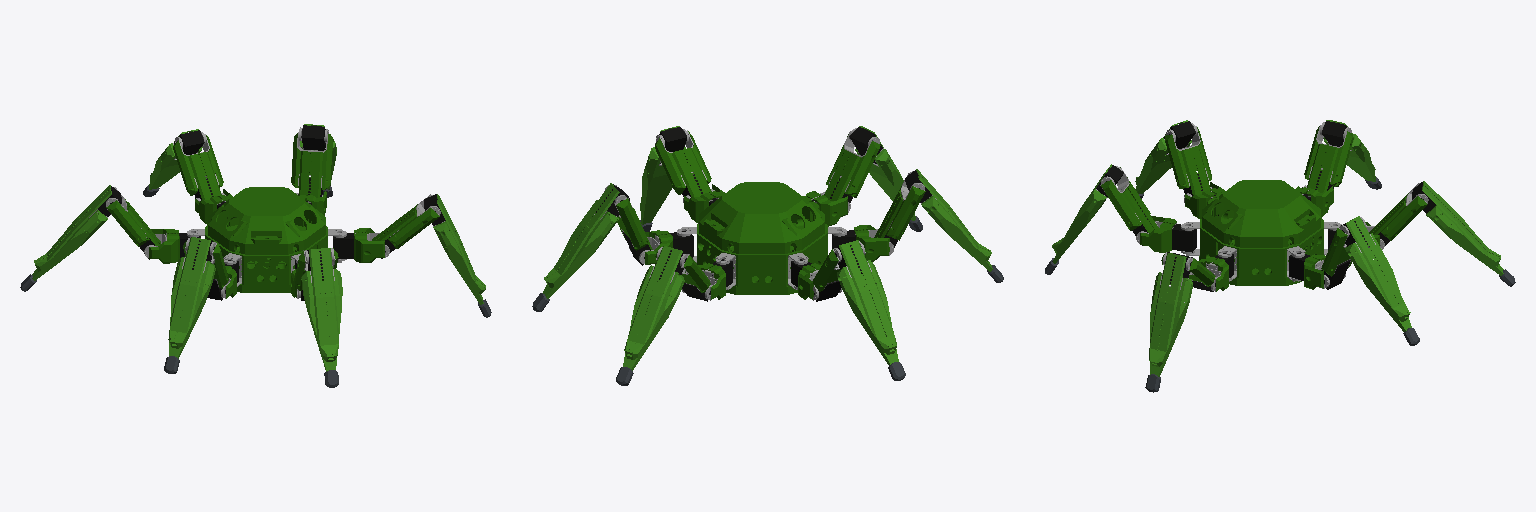
--- Facts derived from the render (not from the file) ---
The picture shows the robot from 3 angles, left to right: view 1: azimuth 30°, elevation 25°; view 2: azimuth 150°, elevation 25°; view 3: azimuth 270°, elevation 25°; orthographic projection.
Model [local-path]\OneDrive\Desktop\ros\hexapod with 19 links and 18 joints (18 revolute), rooted at body, posed all joints at 0.
Links seen in each view (by area): view 1: body, foot_6, foot_5, foot_4, foot, ties_3, ties_2, foot_3, ties, hip, ties_4, hip_4 (+3 smaller); view 2: body, foot_4, foot_3, foot_2, foot_5, foot, ties, ties_6, foot_6, ties_5, ties_2, hip_5 (+7 smaller); view 3: body, foot, foot_2, foot_3, ties_4, ties_5, ties_6, foot_5, foot_6, hip_6, foot_4, ties_3 (+6 smaller).
Boxes of the visible links, bbox=[...] form: body: bbox=[191, 187, 341, 292]; foot_6: bbox=[301, 248, 342, 387]; foot_5: bbox=[164, 237, 215, 373]; foot_4: bbox=[20, 185, 121, 291]; foot: bbox=[424, 194, 491, 317]; ties_3: bbox=[173, 134, 223, 200]; ties_2: bbox=[291, 132, 333, 197]; foot_3: bbox=[143, 129, 205, 196]; ties: bbox=[372, 194, 439, 258]; hip: bbox=[333, 228, 384, 262]; ties_4: bbox=[106, 187, 160, 259]; hip_4: bbox=[149, 229, 200, 263]; body: bbox=[682, 182, 841, 294]; foot_4: bbox=[834, 240, 905, 380]; foot_3: bbox=[616, 246, 687, 385]; foot_2: bbox=[532, 183, 629, 311]; foot_5: bbox=[905, 169, 1003, 282]; foot: bbox=[640, 126, 688, 231]; ties: bbox=[655, 130, 713, 202]; ties_6: bbox=[821, 131, 880, 212]; foot_6: bbox=[849, 126, 922, 231]; ties_5: bbox=[874, 173, 925, 254]; ties_2: bbox=[615, 185, 652, 265]; hip_5: bbox=[832, 225, 889, 261]; body: bbox=[1186, 180, 1337, 285]; foot: bbox=[1145, 252, 1192, 392]; foot_2: bbox=[1339, 216, 1419, 345]; foot_3: bbox=[1412, 181, 1515, 286]; ties_4: bbox=[1304, 125, 1353, 192]; ties_5: bbox=[1165, 126, 1211, 202]; ties_6: bbox=[1100, 167, 1158, 245]; foot_5: bbox=[1135, 120, 1196, 198]; foot_6: bbox=[1045, 164, 1123, 274]; hip_6: bbox=[1140, 216, 1196, 254]; foot_4: bbox=[1320, 120, 1381, 189]; ties_3: bbox=[1369, 183, 1427, 249].
Bounding box of the posed robot: 0.8976 × 1.01 × 0.3254 m (x, y, z).
Meshes: 13 distinct files referenced, 129 mesh visuals loaded (13 binary STL).

URDF robot description ([local-path]\OneDrive\Desktop\ros\hexapod):
<?xml version="1.0" ?>
<!-- Generated using onshape-to-robot -->
<!-- Onshape https://cad.onshape.com/documents/026f9a33ba6a25a983a9d639/w/b83e0182bd0a887a03df3198/e/e49783848224d44e064e4a49 -->
<robot name="[local-path]\OneDrive\Desktop\ros\hexapod">
  <!-- Link body -->
  <link name="body">
    <inertial>
      <origin xyz="-0.196109 -0.050879 -0.0432059" rpy="0 0 0"/>
      <mass value="2.27947"/>
      <inertia ixx="0.017042" ixy="3.91907e-05" ixz="-0.000103785" iyy="0.0170877" iyz="-0.00018515" izz="0.0241407"/>
    </inertial>
    <!-- Part mobile_bracket -->
    <visual>
      <origin xyz="-0.0906126 -0.113734 -0.0437427" rpy="2.0944 1.5708 0"/>
      <geometry>
        <mesh filename="package://meshes\mobile_bracket.stl"/>
      </geometry>
      <material name="mobile_bracket_material">
        <color rgba="0.647059 0.647059 0.647059 1"/>
      </material>
    </visual>
    <collision>
      <origin xyz="-0.0906126 -0.113734 -0.0437427" rpy="2.0944 1.5708 0"/>
      <geometry>
        <mesh filename="package://meshes\mobile_bracket.stl"/>
      </geometry>
    </collision>
    <!-- Part mobile_bracket_2 -->
    <visual>
      <origin xyz="-0.0906126 0.00905613 -0.0437427" rpy="1.0472 1.5708 0"/>
      <geometry>
        <mesh filename="package://meshes\mobile_bracket.stl"/>
      </geometry>
      <material name="mobile_bracket_2_material">
        <color rgba="0.647059 0.647059 0.647059 1"/>
      </material>
    </visual>
    <collision>
      <origin xyz="-0.0906126 0.00905613 -0.0437427" rpy="1.0472 1.5708 0"/>
      <geometry>
        <mesh filename="package://meshes\mobile_bracket.stl"/>
      </geometry>
    </collision>
    <!-- Part bottom_cover -->
    <visual>
      <origin xyz="-0.196952 -0.0523392 -0.00874275" rpy="-4.30211e-16 4.94382e-16 -2.0944"/>
      <geometry>
        <mesh filename="package://meshes\bottom_cover.stl"/>
      </geometry>
      <material name="bottom_cover_material">
        <color rgba="0.196078 0.439216 0.0784314 1"/>
      </material>
    </visual>
    <collision>
      <origin xyz="-0.196952 -0.0523392 -0.00874275" rpy="-4.30211e-16 4.94382e-16 -2.0944"/>
      <geometry>
        <mesh filename="package://meshes\bottom_cover.stl"/>
      </geometry>
    </collision>
    <!-- Part mobile_bracket_3 -->
    <visual>
      <origin xyz="-0.196952 0.0704514 -0.0437427" rpy="1.10589e-16 -1.5708 0"/>
      <geometry>
        <mesh filename="package://meshes\mobile_bracket.stl"/>
      </geometry>
      <material name="mobile_bracket_3_material">
        <color rgba="0.647059 0.647059 0.647059 1"/>
      </material>
    </visual>
    <collision>
      <origin xyz="-0.196952 0.0704514 -0.0437427" rpy="1.10589e-16 -1.5708 0"/>
      <geometry>
        <mesh filename="package://meshes\mobile_bracket.stl"/>
      </geometry>
    </collision>
    <!-- Part cover -->
    <visual>
      <origin xyz="-0.196952 -0.0523392 -0.0787427" rpy="3.14159 2.42408e-16 -2.0944"/>
      <geometry>
        <mesh filename="package://meshes\cover.stl"/>
      </geometry>
      <material name="cover_material">
        <color rgba="0.196078 0.439216 0.0784314 1"/>
      </material>
    </visual>
    <collision>
      <origin xyz="-0.196952 -0.0523392 -0.0787427" rpy="3.14159 2.42408e-16 -2.0944"/>
      <geometry>
        <mesh filename="package://meshes\cover.stl"/>
      </geometry>
    </collision>
    <!-- Part mobile_bracket_4 -->
    <visual>
      <origin xyz="-0.196952 -0.17513 -0.0437427" rpy="-3.14159 1.5708 0"/>
      <geometry>
        <mesh filename="package://meshes\mobile_bracket.stl"/>
      </geometry>
      <material name="mobile_bracket_4_material">
        <color rgba="0.647059 0.647059 0.647059 1"/>
      </material>
    </visual>
    <collision>
      <origin xyz="-0.196952 -0.17513 -0.0437427" rpy="-3.14159 1.5708 0"/>
      <geometry>
        <mesh filename="package://meshes\mobile_bracket.stl"/>
      </geometry>
    </collision>
    <!-- Part mobile_bracket_5 -->
    <visual>
      <origin xyz="-0.303292 0.00905613 -0.0437427" rpy="1.0472 -1.5708 0"/>
      <geometry>
        <mesh filename="package://meshes\mobile_bracket.stl"/>
      </geometry>
      <material name="mobile_bracket_5_material">
        <color rgba="0.647059 0.647059 0.647059 1"/>
      </material>
    </visual>
    <collision>
      <origin xyz="-0.303292 0.00905613 -0.0437427" rpy="1.0472 -1.5708 0"/>
      <geometry>
        <mesh filename="package://meshes\mobile_bracket.stl"/>
      </geometry>
    </collision>
    <!-- Part mobile_bracket_6 -->
    <visual>
      <origin xyz="-0.303292 -0.113734 -0.0437427" rpy="2.0944 -1.5708 0"/>
      <geometry>
        <mesh filename="package://meshes\mobile_bracket.stl"/>
      </geometry>
      <material name="mobile_bracket_6_material">
        <color rgba="0.647059 0.647059 0.647059 1"/>
      </material>
    </visual>
    <collision>
      <origin xyz="-0.303292 -0.113734 -0.0437427" rpy="2.0944 -1.5708 0"/>
      <geometry>
        <mesh filename="package://meshes\mobile_bracket.stl"/>
      </geometry>
    </collision>
    <!-- Part body -->
    <visual>
      <origin xyz="-0.196952 -0.0523392 -0.0437427" rpy="3.14159 -4.30211e-16 2.61799"/>
      <geometry>
        <mesh filename="package://meshes\body.stl"/>
      </geometry>
      <material name="body_material">
        <color rgba="0.196078 0.439216 0.0784314 1"/>
      </material>
    </visual>
    <collision>
      <origin xyz="-0.196952 -0.0523392 -0.0437427" rpy="3.14159 -4.30211e-16 2.61799"/>
      <geometry>
        <mesh filename="package://meshes\body.stl"/>
      </geometry>
    </collision>
  </link>
  <!-- Link hip -->
  <link name="hip">
    <inertial>
      <origin xyz="0.0269089 0.00049653 -0.030132" rpy="0 0 0"/>
      <mass value="0.367257"/>
      <inertia ixx="0.000167558" ixy="-9.38193e-07" ixz="-3.64504e-06" iyy="0.000313217" iyz="1.43413e-06" izz="0.000311521"/>
    </inertial>
    <!-- Part hip -->
    <visual>
      <origin xyz="0.057495 0.00075483 -0.0045" rpy="6.40344e-16 -9.93066e-16 -3.12846"/>
      <geometry>
        <mesh filename="package://meshes\hip.stl"/>
      </geometry>
      <material name="hip_material">
        <color rgba="0.196078 0.439216 0.0784314 1"/>
      </material>
    </visual>
    <collision>
      <origin xyz="0.057495 0.00075483 -0.0045" rpy="6.40344e-16 -9.93066e-16 -3.12846"/>
      <geometry>
        <mesh filename="package://meshes\hip.stl"/>
      </geometry>
    </collision>
    <!-- Part mobile_bracket_7 -->
    <visual>
      <origin xyz="0.057495 0.00075483 -0.0305" rpy="-2.17969e-15 -4.87364e-16 -1.55767"/>
      <geometry>
        <mesh filename="package://meshes\mobile_bracket.stl"/>
      </geometry>
      <material name="mobile_bracket_7_material">
        <color rgba="0.647059 0.647059 0.647059 1"/>
      </material>
    </visual>
    <collision>
      <origin xyz="0.057495 0.00075483 -0.0305" rpy="-2.17969e-15 -4.87364e-16 -1.55767"/>
      <geometry>
        <mesh filename="package://meshes\mobile_bracket.stl"/>
      </geometry>
    </collision>
    <!-- Part servo_wheel -->
    <visual>
      <origin xyz="7.80626e-17 2.77556e-17 -0.0025" rpy="-3.14159 -1.12543e-15 -3.12846"/>
      <geometry>
        <mesh filename="package://meshes\servo_wheel.stl"/>
      </geometry>
      <material name="servo_wheel_material">
        <color rgba="0.647059 0.647059 0.647059 1"/>
      </material>
    </visual>
    <collision>
      <origin xyz="7.80626e-17 2.77556e-17 -0.0025" rpy="-3.14159 -1.12543e-15 -3.12846"/>
      <geometry>
        <mesh filename="package://meshes\servo_wheel.stl"/>
      </geometry>
    </collision>
    <!-- Part servo -->
    <visual>
      <origin xyz="0.0174801 0.00163403 -0.0305" rpy="-3.14159 -1.06559e-15 -3.12846"/>
      <geometry>
        <mesh filename="package://meshes\servo.stl"/>
      </geometry>
      <material name="servo_material">
        <color rgba="0.109804 0.109804 0.105882 1"/>
      </material>
    </visual>
    <collision>
      <origin xyz="0.0174801 0.00163403 -0.0305" rpy="-3.14159 -1.06559e-15 -3.12846"/>
      <geometry>
        <mesh filename="package://meshes\servo.stl"/>
      </geometry>
    </collision>
    <!-- Part fixed_bracket -->
    <visual>
      <origin xyz="0.057495 0.00075483 -0.0305" rpy="-1.58392 1.5708 0"/>
      <geometry>
        <mesh filename="package://meshes\fixed_bracket.stl"/>
      </geometry>
      <material name="fixed_bracket_material">
        <color rgba="0.647059 0.647059 0.647059 1"/>
      </material>
    </visual>
    <collision>
      <origin xyz="0.057495 0.00075483 -0.0305" rpy="-1.58392 1.5708 0"/>
      <geometry>
        <mesh filename="package://meshes\fixed_bracket.stl"/>
      </geometry>
    </collision>
    <!-- Part servo_wheel_2 -->
    <visual>
      <origin xyz="9.19403e-17 0 -0.0585" rpy="-3.14159 -1.04151e-15 -3.12846"/>
      <geometry>
        <mesh filename="package://meshes\servo_wheel.stl"/>
      </geometry>
      <material name="servo_wheel_2_material">
        <color rgba="0.647059 0.647059 0.647059 1"/>
      </material>
    </visual>
    <collision>
      <origin xyz="9.19403e-17 0 -0.0585" rpy="-3.14159 -1.04151e-15 -3.12846"/>
      <geometry>
        <mesh filename="package://meshes\servo_wheel.stl"/>
      </geometry>
    </collision>
  </link>
  <!-- Link ties -->
  <link name="ties">
    <inertial>
      <origin xyz="0.0327445 0.0282242 -0.0311253" rpy="0 0 0"/>
      <mass value="0.468272"/>
      <inertia ixx="0.000509114" ixy="-0.000339983" ixz="7.51677e-06" iyy="0.000630229" iyz="6.04096e-06" izz="0.000767114"/>
    </inertial>
    <!-- Part mobile_bracket_8 -->
    <visual>
      <origin xyz="0.082462 0.0689657 -0.0305" rpy="0.87429 1.5708 0"/>
      <geometry>
        <mesh filename="package://meshes\mobile_bracket.stl"/>
      </geometry>
      <material name="mobile_bracket_8_material">
        <color rgba="0.647059 0.647059 0.647059 1"/>
      </material>
    </visual>
    <collision>
      <origin xyz="0.082462 0.0689657 -0.0305" rpy="0.87429 1.5708 0"/>
      <geometry>
        <mesh filename="package://meshes\mobile_bracket.stl"/>
      </geometry>
    </collision>
    <!-- Part tie -->
    <visual>
      <origin xyz="0.0210949 0.0176424 -0.0305" rpy="-0.696506 1.5708 0"/>
      <geometry>
        <mesh filename="package://meshes\tie.stl"/>
      </geometry>
      <material name="tie_material">
        <color rgba="0.196078 0.439216 0.0784314 1"/>
      </material>
    </visual>
    <collision>
      <origin xyz="0.0210949 0.0176424 -0.0305" rpy="-0.696506 1.5708 0"/>
      <geometry>
        <mesh filename="package://meshes\tie.stl"/>
      </geometry>
    </collision>
    <!-- Part servo_wheel_3 -->
    <visual>
      <origin xyz="-4.16334e-17 -6.93889e-18 -0.0025" rpy="-3.14159 -7.95331e-15 -2.44509"/>
      <geometry>
        <mesh filename="package://meshes\servo_wheel.stl"/>
      </geometry>
      <material name="servo_wheel_3_material">
        <color rgba="0.647059 0.647059 0.647059 1"/>
      </material>
    </visual>
    <collision>
      <origin xyz="-4.16334e-17 -6.93889e-18 -0.0025" rpy="-3.14159 -7.95331e-15 -2.44509"/>
      <geometry>
        <mesh filename="package://meshes\servo_wheel.stl"/>
      </geometry>
    </collision>
    <!-- Part servo_2 -->
    <visual>
      <origin xyz="0.012523 0.0123043 -0.0305" rpy="-3.14159 -9.08255e-15 -2.44509"/>
      <geometry>
        <mesh filename="package://meshes\servo.stl"/>
      </geometry>
      <material name="servo_2_material">
        <color rgba="0.109804 0.109804 0.105882 1"/>
      </material>
    </visual>
    <collision>
      <origin xyz="0.012523 0.0123043 -0.0305" rpy="-3.14159 -9.08255e-15 -2.44509"/>
      <geometry>
        <mesh filename="package://meshes\servo.stl"/>
      </geometry>
    </collision>
    <!-- Part fixed_bracket_2 -->
    <visual>
      <origin xyz="0.0441076 0.0368886 -0.0305" rpy="-2.2673 1.5708 0"/>
      <geometry>
        <mesh filename="package://meshes\fixed_bracket.stl"/>
      </geometry>
      <material name="fixed_bracket_2_material">
        <color rgba="0.647059 0.647059 0.647059 1"/>
      </material>
    </visual>
    <collision>
      <origin xyz="0.0441076 0.0368886 -0.0305" rpy="-2.2673 1.5708 0"/>
      <geometry>
        <mesh filename="package://meshes\fixed_bracket.stl"/>
      </geometry>
    </collision>
    <!-- Part servo_wheel_4 -->
    <visual>
      <origin xyz="-6.93889e-17 -2.77556e-17 -0.0585" rpy="-3.14159 -8.57101e-15 -2.44509"/>
      <geometry>
        <mesh filename="package://meshes\servo_wheel.stl"/>
      </geometry>
      <material name="servo_wheel_4_material">
        <color rgba="0.647059 0.647059 0.647059 1"/>
      </material>
    </visual>
    <collision>
      <origin xyz="-6.93889e-17 -2.77556e-17 -0.0585" rpy="-3.14159 -8.57101e-15 -2.44509"/>
      <geometry>
        <mesh filename="package://meshes\servo_wheel.stl"/>
      </geometry>
    </collision>
  </link>
  <!-- Link foot -->
  <link name="foot">
    <inertial>
      <origin xyz="-0.0743464 -0.000710193 -0.030632" rpy="0 0 0"/>
      <mass value="0.61675"/>
      <inertia ixx="0.000244104" ixy="-1.43889e-05" ixz="2.03993e-06" iyy="0.00314722" iyz="1.38557e-07" izz="0.00298873"/>
    </inertial>
    <!-- Part rubber_foot -->
    <visual>
      <origin xyz="-0.04475 1.38778e-16 -0.0305" rpy="-2.81587e-16 1.5708 0"/>
      <geometry>
        <mesh filename="package://meshes\rubber_foot.stl"/>
      </geometry>
      <material name="rubber_foot_material">
        <color rgba="0.262745 0.282353 0.301961 1"/>
      </material>
    </visual>
    <collision>
      <origin xyz="-0.04475 1.38778e-16 -0.0305" rpy="-2.81587e-16 1.5708 0"/>
      <geometry>
        <mesh filename="package://meshes\rubber_foot.stl"/>
      </geometry>
    </collision>
    <!-- Part lower_foot -->
    <visual>
      <origin xyz="-0.04425 0 -0.0305" rpy="1.05679e-16 1.5708 0"/>
      <geometry>
        <mesh filename="package://meshes\lower_foot.stl"/>
      </geometry>
      <material name="lower_foot_material">
        <color rgba="0.282353 0.54902 0.160784 1"/>
      </material>
    </visual>
    <collision>
      <origin xyz="-0.04425 0 -0.0305" rpy="1.05679e-16 1.5708 0"/>
      <geometry>
        <mesh filename="package://meshes\lower_foot.stl"/>
      </geometry>
    </collision>
    <!-- Part weight_beam -->
    <visual>
      <origin xyz="-0.04425 2.77556e-17 -0.0305" rpy="7.72551e-17 1.5708 0"/>
      <geometry>
        <mesh filename="package://meshes\weight_beam.stl"/>
      </geometry>
      <material name="weight_beam_material">
        <color rgba="0.917647 0.917647 0.917647 1"/>
      </material>
    </visual>
    <collision>
      <origin xyz="-0.04425 2.77556e-17 -0.0305" rpy="7.72551e-17 1.5708 0"/>
      <geometry>
        <mesh filename="package://meshes\weight_beam.stl"/>
      </geometry>
    </collision>
    <!-- Part upper_foot -->
    <visual>
      <origin xyz="-0.04425 0 -0.0305" rpy="-5.21251e-17 1.5708 0"/>
      <geometry>
        <mesh filename="package://meshes\upper_foot.stl"/>
      </geometry>
      <material name="upper_foot_material">
        <color rgba="0.282353 0.54902 0.160784 1"/>
      </material>
    </visual>
    <collision>
      <origin xyz="-0.04425 0 -0.0305" rpy="-5.21251e-17 1.5708 0"/>
      <geometry>
        <mesh filename="package://meshes\upper_foot.stl"/>
      </geometry>
    </collision>
    <!-- Part servo_wheel_5 -->
    <visual>
      <origin xyz="-1.38778e-17 0 -0.0025" rpy="3.14159 -2.11584e-20 -9.07834e-18"/>
      <geometry>
        <mesh filename="package://meshes\servo_wheel.stl"/>
      </geometry>
      <material name="servo_wheel_5_material">
        <color rgba="0.647059 0.647059 0.647059 1"/>
      </material>
    </visual>
    <collision>
      <origin xyz="-1.38778e-17 0 -0.0025" rpy="3.14159 -2.11584e-20 -9.07834e-18"/>
      <geometry>
        <mesh filename="package://meshes\servo_wheel.stl"/>
      </geometry>
    </collision>
    <!-- Part servo_3 -->
    <visual>
      <origin xyz="-0.0175 -0.00140442 -0.0305" rpy="3.14159 -2.72451e-15 1.01075e-16"/>
      <geometry>
        <mesh filename="package://meshes\servo.stl"/>
      </geometry>
      <material name="servo_3_material">
        <color rgba="0.109804 0.109804 0.105882 1"/>
      </material>
    </visual>
    <collision>
      <origin xyz="-0.0175 -0.00140442 -0.0305" rpy="3.14159 -2.72451e-15 1.01075e-16"/>
      <geometry>
        <mesh filename="package://meshes\servo.stl"/>
      </geometry>
    </collision>
    <!-- Part fixed_bracket_3 -->
    <visual>
      <origin xyz="-0.0575 0 -0.0305" rpy="1.5708 1.5708 0"/>
      <geometry>
        <mesh filename="package://meshes\fixed_bracket.stl"/>
      </geometry>
      <material name="fixed_bracket_3_material">
        <color rgba="0.647059 0.647059 0.647059 1"/>
      </material>
    </visual>
    <collision>
      <origin xyz="-0.0575 0 -0.0305" rpy="1.5708 1.5708 0"/>
      <geometry>
        <mesh filename="package://meshes\fixed_bracket.stl"/>
      </geometry>
    </collision>
    <!-- Part servo_wheel_6 -->
    <visual>
      <origin xyz="1.38778e-17 2.77556e-17 -0.0585" rpy="3.14159 -2.82447e-15 -1.10484e-16"/>
      <geometry>
        <mesh filename="package://meshes\servo_wheel.stl"/>
      </geometry>
      <material name="servo_wheel_6_material">
        <color rgba="0.647059 0.647059 0.647059 1"/>
      </material>
    </visual>
    <collision>
      <origin xyz="1.38778e-17 2.77556e-17 -0.0585" rpy="3.14159 -2.82447e-15 -1.10484e-16"/>
      <geometry>
        <mesh filename="package://meshes\servo_wheel.stl"/>
      </geometry>
    </collision>
  </link>
  <!-- Joint from ties to foot -->
  <joint name="foot_1" type="revolute">
    <origin xyz="0.10931 0.0914197 -0.000116718" rpy="3.487e-15 -1.92241e-15 2.00129"/>
    <parent link="ties"/>
    <child link="foot"/>
    <axis xyz="0 0 1"/>
    <limit effort="10" velocity="10" lower="-0.25759" upper="3.9312"/>
  </joint>
  <!-- Joint from hip to ties -->
  <joint name="ties_1" type="revolute">
    <origin xyz="0.0929005 -0.0298997 -0.0305" rpy="1.5708 2.17969e-15 0.0131279"/>
    <parent link="hip"/>
    <child link="ties"/>
    <axis xyz="0 0 1"/>
    <limit effort="10" velocity="10" lower="-2.44184" upper="1.04882"/>
  </joint>
  <!-- Joint from body to hip -->
  <joint name="hip_1" type="revolute">
    <origin xyz="-0.0603017 -0.131234 -0.0133595" rpy="4.41736e-16 -2.00843e-17 -0.523599"/>
    <parent link="body"/>
    <child link="hip"/>
    <axis xyz="0 0 1"/>
    <limit effort="10" velocity="10" lower="-1.58392" upper="1.55767"/>
  </joint>
  <!-- Link hip_2 -->
  <link name="hip_2">
    <inertial>
      <origin xyz="-0.0269131 -0.000143241 -0.030132" rpy="0 0 0"/>
      <mass value="0.367257"/>
      <inertia ixx="0.000167559" ixy="9.74102e-07" ixz="3.62589e-06" iyy="0.000313217" iyz="-1.48186e-06" izz="0.000311521"/>
    </inertial>
    <!-- Part hip_2 -->
    <visual>
      <origin xyz="-0.0575 4.16334e-17 -0.0045" rpy="2.63678e-16 6.80012e-16 5.11551e-16"/>
      <geometry>
        <mesh filename="package://meshes\hip.stl"/>
      </geometry>
      <material name="hip_2_material">
        <color rgba="0.196078 0.439216 0.0784314 1"/>
      </material>
    </visual>
    <collision>
      <origin xyz="-0.0575 4.16334e-17 -0.0045" rpy="2.63678e-16 6.80012e-16 5.11551e-16"/>
      <geometry>
        <mesh filename="package://meshes\hip.stl"/>
      </geometry>
    </collision>
    <!-- Part mobile_bracket_9 -->
    <visual>
      <origin xyz="-0.0575 0 -0.0305" rpy="9.85323e-16 -4.996e-16 1.5708"/>
      <geometry>
        <mesh filename="package://meshes\mobile_bracket.stl"/>
      </geometry>
      <material name="mobile_bracket_9_material">
        <color rgba="0.647059 0.647059 0.647059 1"/>
      </material>
    </visual>
    <collision>
      <origin xyz="-0.0575 0 -0.0305" rpy="9.85323e-16 -4.996e-16 1.5708"/>
      <geometry>
        <mesh filename="package://meshes\mobile_bracket.stl"/>
      </geometry>
    </collision>
    <!-- Part servo_wheel_7 -->
    <visual>
      <origin xyz="0 0 -0.0025" rpy="-3.14159 -6.38069e-32 9.97878e-17"/>
      <geometry>
        <mesh filename="package://meshes\servo_wheel.stl"/>
      </geometry>
      <material name="servo_wheel_7_material">
        <color rgba="0.647059 0.647059 0.647059 1"/>
      </material>
    </visual>
    <collision>
      <origin xyz="0 0 -0.0025" rpy="-3.14159 -6.38069e-32 9.97878e-17"/>
      <geometry>
        <mesh filename="package://meshes\servo_wheel.stl"/>
      </geometry>
    </collision>
    <!-- Part servo_4 -->
    <visual>
      <origin xyz="-0.0175 -0.00140442 -0.0305" rpy="-3.14159 1.8735e-16 3.21238e-16"/>
      <geometry>
        <mesh filename="package://meshes\servo.stl"/>
      </geometry>
      <material name="servo_4_material">
        <color rgba="0.109804 0.109804 0.105882 1"/>
      </material>
    </visual>
    <collision>
      <origin xyz="-0.0175 -0.00140442 -0.0305" rpy="-3.14159 1.8735e-16 3.21238e-16"/>
      <geometry>
        <mesh filename="package://meshes\servo.stl"/>
      </geometry>
    </collision>
    <!-- Part fixed_bracket_4 -->
    <visual>
      <origin xyz="-0.0575 0 -0.0305" rpy="1.5708 1.5708 0"/>
      <geometry>
        <mesh filename="package://meshes\fixed_bracket.stl"/>
      </geometry>
      <material name="fixed_bracket_4_material">
        <color rgba="0.647059 0.647059 0.647059 1"/>
      </material>
    </visual>
    <collision>
      <origin xyz="-0.0575 0 -0.0305" rpy="1.5708 1.5708 0"/>
      <geometry>
        <mesh filename="package://meshes\fixed_bracket.stl"/>
      </geometry>
    </collision>
    <!-- Part servo_wheel_8 -->
    <visual>
      <origin xyz="-3.46945e-17 0 -0.0585" rpy="3.14159 -3.11556e-15 3.82586e-16"/>
      <geometry>
        <mesh filename="package://meshes\servo_wheel.stl"/>
      </geometry>
      <material name="servo_wheel_8_material">
        <color rgba="0.647059 0.647059 0.647059 1"/>
      </material>
    </visual>
    <collision>
      <origin xyz="-3.46945e-17 0 -0.0585" rpy="3.14159 -3.11556e-15 3.82586e-16"/>
      <geometry>
        <mesh filename="package://meshes\servo_wheel.stl"/>
      </geometry>
    </collision>
  </link>
  <!-- Link ties_2 -->
  <link name="ties_2">
    <inertial>
      <origin xyz="0.0157436 0.040261 -0.0311253" rpy="0 0 0"/>
      <mass value="0.468272"/>
      <inertia ixx="0.000816681" ixy="-0.000241333" ixz="3.81898e-06" iyy="0.000322662" iyz="8.85496e-06" izz="0.000767114"/>
    </inertial>
    <!-- Part mobile_bracket_10 -->
    <visual>
      <origin xyz="0.0406359 0.0995237 -0.0305" rpy="0.387644 1.5708 0"/>
      <geometry>
        <mesh filename="package://meshes\mobile_bracket.stl"/>
      </geometry>
      <material name="mobile_bracket_10_material">
        <color rgba="0.647059 0.647059 0.647059 1"/>
      </material>
    </visual>
    <collision>
      <origin xyz="0.0406359 0.0995237 -0.0305" rpy="0.387644 1.5708 0"/>
      <geometry>
        <mesh filename="package://meshes\mobile_bracket.stl"/>
      </geometry>
    </collision>
    <!-- Part tie_2 -->
    <visual>
      <origin xyz="0.0103952 0.0254596 -0.0305" rpy="-1.18315 1.5708 0"/>
      <geometry>
        <mesh filename="package://meshes\tie.stl"/>
      </geometry>
      <material name="tie_2_material">
        <color rgba="0.196078 0.439216 0.0784314 1"/>
      </material>
    </visual>
    <collision>
      <origin xyz="0.0103952 0.0254596 -0.0305" rpy="-1.18315 1.5708 0"/>
      <geometry>
        <mesh filename="package://meshes\tie.stl"/>
      </geometry>
    </collision>
    <!-- Part servo_wheel_9 -->
    <visual>
      <origin xyz="1.38778e-17 1.38778e-17 -0.0025" rpy="3.14159 -6.39221e-16 -1.95844"/>
      <geometry>
        <mesh filename="package://meshes\servo_wheel.stl"/>
      </geometry>
      <material name="servo_wheel_9_material">
        <color rgba="0.647059 0.647059 0.647059 1"/>
      </material>
    </visual>
    <collision>
      <origin xyz="1.38778e-17 1.38778e-17 -0.0025" rpy="3.14159 -6.39221e-16 -1.95844"/>
      <geometry>
        <mesh filename="package://meshes\servo_wheel.stl"/>
      </geometry>
    </collision>
    <!-- Part servo_5 -->
    <visual>
      <origin xyz="0.00531493 0.0167324 -0.0305" rpy="3.14159 3.81092e-16 -1.95844"/>
      <geometry>
        <mesh filename="package://meshes\servo.stl"/>
      </geometry>
      <material name="servo_5_material">
        <color rgba="0.109804 0.109804 0.105882 1"/>
      </material>
    </visual>
    <collision>
      <origin xyz="0.00531493 0.0167324 -0.0305" rpy="3.14159 3.81092e-16 -1.95844"/>
      <geometry>
        <mesh filename="package://meshes\servo.stl"/>
      </geometry>
    </collision>
    <!-- Part fixed_bracket_5 -->
    <visual>
      <origin xyz="0.0217355 0.0532336 -0.0305" rpy="-2.75395 1.5708 0"/>
      <geometry>
        <mesh filename="package://meshes\fixed_bracket.stl"/>
      </geometry>
      <material name="fixed_bracket_5_material">
        <color rgba="0.647059 0.647059 0.647059 1"/>
      </material>
    </visual>
    <collision>
      <origin xyz="0.0217355 0.0532336 -0.0305" rpy="-2.75395 1.5708 0"/>
      <geometry>
        <mesh filename="package://meshes\fixed_bracket.stl"/>
      </geometry>
    </collision>
    <!-- Part servo_wheel_10 -->
    <visual>
      <origin xyz="-2.77556e-17 -5.55112e-17 -0.0585" rpy="3.14159 -2.29178e-15 -1.95844"/>
      <geometry>
        <mesh filename="package://meshes\servo_wheel.stl"/>
      </geometry>
      <material name="servo_wheel_10_material">
        <color rgba="0.647059 0.647059 0.647059 1"/>
      </material>
    </visual>
    <collision>
      <origin xyz="-2.77556e-17 -5.55112e-17 -0.0585" rpy="3.14159 -2.29178e-15 -1.95844"/>
      <geometry>
        <mesh filename="package://meshes\servo_wheel.stl"/>
      </geometry>
    </collision>
  </link>
  <!-- Link foot_2 -->
  <link name="foot_2">
    <inertial>
      <origin xyz="-0.0743464 -0.000710193 -0.030632" rpy="0 0 0"/>
      <mass value="0.61675"/>
      <inertia ixx="0.000244104" ixy="-1.43889e-05" ixz="2.03993e-06" iyy="0.00314722" iyz="1.38557e-07" izz="0.00298873"/>
    </inertial>
    <!-- Part rubber_foot_2 -->
    <visual>
      <origin xyz="-0.04475 2.77556e-17 -0.0305" rpy="-8.43949e-17 1.5708 0"/>
      <geometry>
        <mesh filename="package://meshes\rubber_foot.stl"/>
      </geometry>
      <material name="rubber_foot_2_material">
        <color rgba="0.262745 0.282353 0.301961 1"/>
      </material>
    </visual>
    <collision>
      <origin xyz="-0.04475 2.77556e-17 -0.0305" rpy="-8.43949e-17 1.5708 0"/>
      <geometry>
        <mesh filename="package://meshes\rubber_foot.stl"/>
      </geometry>
    </collision>
    <!-- Part lower_foot_2 -->
    <visual>
      <origin xyz="-0.04425 -5.55112e-17 -0.0305" rpy="1.32358e-17 1.5708 0"/>
      <geometry>
        <mesh filename="package://meshes\lower_foot.stl"/>
      </geometry>
      <material name="lower_foot_2_material">
        <color rgba="0.282353 0.54902 0.160784 1"/>
      </material>
    </visual>
    <collision>
      <origin xyz="-0.04425 -5.55112e-17 -0.0305" rpy="1.32358e-17 1.5708 0"/>
      <geometry>
        <mesh filename="package://meshes\lower_foot.stl"/>
      </geometry>
    </collision>
    <!-- Part weight_beam_2 -->
    <visual>
      <origin xyz="-0.04425 -2.77556e-17 -0.0305" rpy="-7.6616e-17 1.5708 0"/>
      <geometry>
        <mesh filename="package://meshes\weight_beam.stl"/>
      </geometry>
      <material name="weight_beam_2_material">
        <color rgba="0.917647 0.917647 0.917647 1"/>
      </material>
    </visual>
    <collision>
      <origin xyz="-0.04425 -2.77556e-17 -0.0305" rpy="-7.6616e-17 1.5708 0"/>
      <geometry>
        <mesh filename="package://meshes\weight_beam.stl"/>
      </geometry>
    </collision>
    <!-- Part upper_foot_2 -->
    <visual>
      <origin xyz="-0.04425 -2.77556e-17 -0.0305" rpy="1.32358e-17 1.5708 0"/>
      <geometry>
        <mesh filename="package://meshes\upper_foot.stl"/>
      </geometry>
      <material name="upper_foot_2_material">
        <color rgba="0.282353 0.54902 0.160784 1"/>
      </material>
    </visual>
    <collision>
      <origin xyz="-0.04425 -2.77556e-17 -0.0305" rpy="1.32358e-17 1.5708 0"/>
      <geometry>
        <mesh filename="package://meshes\upper_foot.stl"/>
      </geometry>
    </collision>
    <!-- Part servo_wheel_11 -->
    <visual>
      <origin xyz="-1.73472e-17 0 -0.0025" rpy="-3.14159 -2.14412e-18 -4.60747e-17"/>
      <geometry>
        <mesh filename="package://meshes\servo_wheel.stl"/>
      </geometry>
      <material name="servo_wheel_11_material">
        <color rgba="0.647059 0.647059 0.647059 1"/>
      </material>
    </visual>
    <collision>
      <origin xyz="-1.73472e-17 0 -0.0025" rpy="-3.14159 -2.14412e-18 -4.60747e-17"/>
      <geometry>
        <mesh filename="package://meshes\servo_wheel.stl"/>
      </geometry>
    </collision>
    <!-- Part servo_6 -->
    <visual>
      <origin xyz="-0.0175 -0.00140442 -0.0305" rpy="-3.14159 2.0323e-16 1.32349e-16"/>
      <geometry>
        <mesh filename="package://meshes\servo.stl"/>
      </geometry>
      <material name="servo_6_material">
        <color rgba="0.109804 0.109804 0.105882 1"/>
      </material>
    </visual>
    <collision>
      <origin xyz="-0.0175 -0.00140442 -0.0305" rpy="-3.14159 2.0323e-16 1.32349e-16"/>
      <geometry>
        <mesh filename="package://meshes\servo.stl"/>
      </geometry>
    </collision>
    <!-- Part fixed_bracket_6 -->
    <visual>
      <origin xyz="-0.0575 0 -0.0305" rpy="1.5708 1.5708 0"/>
      <geometry>
        <mesh filename="package://meshes\fixed_bracket.stl"/>
      </geometry>
      <material name="fixed_bracket_6_material">
        <color rgba="0.647059 0.647059 0.647059 1"/>
      </material>
    </visual>
    <collision>
      <origin xyz="-0.0575 0 -0.0305" rpy="1.5708 1.5708 0"/>
      <geometry>
        <mesh filename="package://meshes\fixed_bracket.stl"/>
      </geometry>
    </collision>
    <!-- Part servo_wheel_12 -->
    <visual>
      <origin xyz="-7.28584e-17 0 -0.0585" rpy="-3.14159 8.58787e-16 -8.81942e-17"/>
      <geometry>
        <mesh filename="package://meshes\servo_wheel.stl"/>
      </geometry>
      <material name="servo_wheel_12_material">
        <color rgba="0.647059 0.647059 0.647059 1"/>
      </material>
    </visual>
    <collision>
      <origin xyz="-7.28584e-17 0 -0.0585" rpy="-3.14159 8.58787e-16 -8.81942e-17"/>
      <geometry>
        <mesh filename="package://meshes\servo_wheel.stl"/>
      </geometry>
    </collision>
  </link>
  <!-- Joint from ties_2 to foot_2 -->
  <joint name="foot_2" type="revolute">
    <origin xyz="0.0538662 0.131927 -0.000116718" rpy="3.49334e-15 -4.3045e-15 2.24033"/>
    <parent link="ties_2"/>
    <child link="foot_2"/>
    <axis xyz="0 0 1"/>
    <limit effort="10" velocity="10" lower="-0.0099805" upper="4.17881"/>
  </joint>
  <!-- Joint from hip_2 to ties_2 -->
  <joint name="ties_2" type="revolute">
    <origin xyz="-0.0925 0.0311167 -0.0305" rpy="1.5708 -9.85323e-16 -3.14159"/>
    <parent link="hip_2"/>
    <child link="ties_2"/>
    <axis xyz="0 0 1"/>
    <limit effort="10" velocity="10" lower="-2.92848" upper="0.562177"/>
  </joint>
  <!-- Joint from body to hip_2 -->
  <joint name="hip_2" type="revolute">
    <origin xyz="-0.0603017 0.0265561 -0.0133595" rpy="-2.65193e-15 4.96332e-16 -2.2469"/>
    <parent link="body"/>
    <child link="hip_2"/>
    <axis xyz="0 0 1"/>
    <limit effort="10" velocity="10" lower="-1.94189" upper="1.19971"/>
  </joint>
  <!-- Link hip_3 -->
  <link name="hip_3">
    <inertial>
      <origin xyz="-0.0269131 -0.000143241 -0.030132" rpy="0 0 0"/>
      <mass value="0.367257"/>
      <inertia ixx="0.000167559" ixy="9.74102e-07" ixz="3.62589e-06" iyy="0.000313217" iyz="-1.48186e-06" izz="0.000311521"/>
    </inertial>
    <!-- Part hip_3 -->
    <visual>
      <origin xyz="-0.0575 2.22045e-16 -0.0045" rpy="4.30211e-16 3.95517e-16 -3.61773e-16"/>
      <geometry>
        <mesh filename="package://meshes\hip.stl"/>
      </geometry>
      <material name="hip_3_material">
        <color rgba="0.196078 0.439216 0.0784314 1"/>
      </material>
    </visual>
    <collision>
      <origin xyz="-0.0575 2.22045e-16 -0.0045" rpy="4.30211e-16 3.95517e-16 -3.61773e-16"/>
      <geometry>
        <mesh filename="package://meshes\hip.stl"/>
      </geometry>
    </collision>
    <!-- Part mobile_bracket_11 -->
    <visual>
      <origin xyz="-0.0575 5.55112e-17 -0.0305" rpy="8.32667e-16 7.91034e-16 1.5708"/>
      <geometry>
        <mesh filename="package://meshes\mobile_bracket.stl"/>
      </geometry>
      <material name="mobile_bracket_11_material">
        <color rgba="0.647059 0.647059 0.647059 1"/>
      </material>
    </visual>
    <collision>
      <origin xyz="-0.0575 5.55112e-17 -0.0305" rpy="8.32667e-16 7.91034e-16 1.5708"/>
      <geometry>
        <mesh filename="package://meshes\mobile_bracket.stl"/>
      </geometry>
    </collision>
    <!-- Part servo_wheel_13 -->
    <visual>
      <origin xyz="0 2.77556e-17 -0.0025" rpy="3.14159 -1.49214e-32 4.47223e-18"/>
      <geometry>
        <mesh filename="package://meshes\servo_wheel.stl"/>
      </geometry>
      <material name="servo_wheel_13_material">
        <color rgba="0.647059 0.647059 0.647059 1"/>
      </material>
    </visual>
    <collision>
      <origin xyz="0 2.77556e-17 -0.0025" rpy="3.14159 -1.49214e-32 4.47223e-18"/>
      <geometry>
        <mesh filename="package://meshes\servo_wheel.stl"/>
      </geometry>
    </collision>
    <!-- Part servo_7 -->
    <visual>
      <origin xyz="-0.0175 -0.00140442 -0.0305" rpy="-3.14159 6.10623e-16 -1.19127e-17"/>
      <geometry>
        <mesh filename="package://meshes\servo.stl"/>
      </geometry>
      <material name="servo_7_material">
        <color rgba="0.109804 0.109804 0.105882 1"/>
      </material>
    </visual>
    <collision>
      <origin xyz="-0.0175 -0.00140442 -0.0305" rpy="-3.14159 6.10623e-16 -1.19127e-17"/>
      <geometry>
        <mesh filename="package://meshes\servo.stl"/>
      </geometry>
    </collision>
    <!-- Part fixed_bracket_7 -->
    <visual>
      <origin xyz="-0.0575 5.55112e-17 -0.0305" rpy="1.5708 1.5708 0"/>
      <geometry>
        <mesh filename="package://meshes\fixed_bracket.stl"/>
      </geometry>
      <material name="fixed_bracket_7_material">
        <color rgba="0.647059 0.647059 0.647059 1"/>
      </material>
    </visual>
    <collision>
      <origin xyz="-0.0575 5.55112e-17 -0.0305" rpy="1.5708 1.5708 0"/>
      <geometry>
        <mesh filename="package://meshes\fixed_bracket.stl"/>
      </geometry>
    </collision>
    <!-- Part servo_wheel_14 -->
    <visual>
      <origin xyz="0 0 -0.0585" rpy="-3.14159 7.77156e-16 -1.98676e-16"/>
      <geometry>
        <mesh filename="package://meshes\servo_wheel.stl"/>
      </geometry>
      <material name="servo_wheel_14_material">
        <color rgba="0.647059 0.647059 0.647059 1"/>
      </material>
    </visual>
    <collision>
      <origin xyz="0 0 -0.0585" rpy="-3.14159 7.77156e-16 -1.98676e-16"/>
      <geometry>
        <mesh filename="package://meshes\servo_wheel.stl"/>
      </geometry>
    </collision>
  </link>
  <!-- Link ties_3 -->
  <link name="ties_3">
    <inertial>
      <origin xyz="0.0280086 0.0329292 -0.0311253" rpy="0 0 0"/>
      <mass value="0.468272"/>
      <inertia ixx="0.000615427" ixy="-0.000342289" ixz="6.49705e-06" iyy="0.000523916" iyz="7.12624e-06" izz="0.000767114"/>
    </inertial>
    <!-- Part mobile_bracket_12 -->
    <visual>
      <origin xyz="0.0708605 0.0808396 -0.0305" rpy="0.719711 1.5708 0"/>
      <geometry>
        <mesh filename="package://meshes\mobile_bracket.stl"/>
      </geometry>
      <material name="mobile_bracket_12_material">
        <color rgba="0.647059 0.647059 0.647059 1"/>
      </material>
    </visual>
    <collision>
      <origin xyz="0.0708605 0.0808396 -0.0305" rpy="0.719711 1.5708 0"/>
      <geometry>
        <mesh filename="package://meshes\mobile_bracket.stl"/>
      </geometry>
    </collision>
    <!-- Part tie_3 -->
    <visual>
      <origin xyz="0.0181271 0.0206799 -0.0305" rpy="-0.851085 1.5708 0"/>
      <geometry>
        <mesh filename="package://meshes\tie.stl"/>
      </geometry>
      <material name="tie_3_material">
        <color rgba="0.196078 0.439216 0.0784314 1"/>
      </material>
    </visual>
    <collision>
      <origin xyz="0.0181271 0.0206799 -0.0305" rpy="-0.851085 1.5708 0"/>
      <geometry>
        <mesh filename="package://meshes\tie.stl"/>
      </geometry>
    </collision>
    <!-- Part servo_wheel_15 -->
    <visual>
      <origin xyz="-1.66533e-16 -1.38778e-17 -0.0025" rpy="3.14159 4.28135e-15 -2.29051"/>
      <geometry>
        <mesh filename="package://meshes\servo_wheel.stl"/>
      </geometry>
      <material name="servo_wheel_15_material">
        <color rgba="0.647059 0.647059 0.647059 1"/>
      </material>
    </visual>
    <collision>
      <origin xyz="-1.66533e-16 -1.38778e-17 -0.0025" rpy="3.14159 4.28135e-15 -2.29051"/>
      <geometry>
        <mesh filename="package://meshes\servo_wheel.stl"/>
      </geometry>
    </collision>
    <!-- Part servo_8 -->
    <visual>
      <origin xyz="0.0104793 0.0140857 -0.0305" rpy="3.14159 3.38152e-15 -2.29051"/>
      <geometry>
        <mesh filename="package://meshes\servo.stl"/>
      </geometry>
      <material name="servo_8_material">
        <color rgba="0.109804 0.109804 0.105882 1"/>
      </material>
    </visual>
    <collision>
      <origin xyz="0.0104793 0.0140857 -0.0305" rpy="3.14159 3.38152e-15 -2.29051"/>
      <geometry>
        <mesh filename="package://meshes\servo.stl"/>
      </geometry>
    </collision>
    <!-- Part fixed_bracket_8 -->
    <visual>
      <origin xyz="0.0379021 0.0432398 -0.0305" rpy="-2.42188 1.5708 0"/>
      <geometry>
        <mesh filename="package://meshes\fixed_bracket.stl"/>
      </geometry>
      <material name="fixed_bracket_8_material">
        <color rgba="0.647059 0.647059 0.647059 1"/>
      </material>
    </visual>
    <collision>
      <origin xyz="0.0379021 0.0432398 -0.0305" rpy="-2.42188 1.5708 0"/>
      <geometry>
        <mesh filename="package://meshes\fixed_bracket.stl"/>
      </geometry>
    </collision>
    <!-- Part servo_wheel_16 -->
    <visual>
      <origin xyz="-1.11022e-16 5.55112e-17 -0.0585" rpy="3.14159 1.81866e-15 -2.29051"/>
      <geometry>
        <mesh filename="package://meshes\servo_wheel.stl"/>
      </geometry>
      <material name="servo_wheel_16_material">
        <color rgba="0.647059 0.647059 0.647059 1"/>
      </material>
    </visual>
    <collision>
      <origin xyz="-1.11022e-16 5.55112e-17 -0.0585" rpy="3.14159 1.81866e-15 -2.29051"/>
      <geometry>
        <mesh filename="package://meshes\servo_wheel.stl"/>
      </geometry>
    </collision>
  </link>
  <!-- Link foot_3 -->
  <link name="foot_3">
    <inertial>
      <origin xyz="-0.0743464 -0.000710193 -0.030632" rpy="0 0 0"/>
      <mass value="0.61675"/>
      <inertia ixx="0.000244104" ixy="-1.43889e-05" ixz="2.03993e-06" iyy="0.00314722" iyz="1.38557e-07" izz="0.00298873"/>
    </inertial>
    <!-- Part rubber_foot_3 -->
    <visual>
      <origin xyz="-0.04475 5.55112e-17 -0.0305" rpy="-3.25352e-16 1.5708 0"/>
      <geometry>
        <mesh filename="package://meshes\rubber_foot.stl"/>
      </geometry>
      <material name="rubber_foot_3_material">
        <color rgba="0.262745 0.282353 0.301961 1"/>
      </material>
    </visual>
    <collision>
      <origin xyz="-0.04475 5.55112e-17 -0.0305" rpy="-3.25352e-16 1.5708 0"/>
      <geometry>
        <mesh filename="package://meshes\rubber_foot.stl"/>
      </geometry>
    </collision>
    <!-- Part lower_foot_3 -->
    <visual>
      <origin xyz="-0.04425 0 -0.0305" rpy="-3.118e-16 1.5708 0"/>
      <geometry>
        <mesh filename="package://meshes\lower_foot.stl"/>
      </geometry>
      <material name="lower_foot_3_material">
        <color rgba="0.282353 0.54902 0.160784 1"/>
      </material>
    </visual>
    <collision>
      <origin xyz="-0.04425 0 -0.0305" rpy="-3.118e-16 1.5708 0"/>
      <geometry>
        <mesh filename="package://meshes\lower_foot.stl"/>
      </geometry>
    </collision>
    <!-- Part weight_beam_3 -->
    <visual>
      <origin xyz="-0.04425 2.77556e-17 -0.0305" rpy="-2.95751e-16 1.5708 0"/>
      <geometry>
        <mesh filename="package://meshes\weight_beam.stl"/>
      </geometry>
      <material name="weight_beam_3_material">
        <color rgba="0.917647 0.917647 0.917647 1"/>
      </material>
    </visual>
    <collision>
      <origin xyz="-0.04425 2.77556e-17 -0.0305" rpy="-2.95751e-16 1.5708 0"/>
      <geometry>
        <mesh filename="package://meshes\weight_beam.stl"/>
      </geometry>
    </collision>
    <!-- Part upper_foot_3 -->
    <visual>
      <origin xyz="-0.04425 2.77556e-17 -0.0305" rpy="-2.30379e-16 1.5708 0"/>
      <geometry>
        <mesh filename="package://meshes\upper_foot.stl"/>
      </geometry>
      <material name="upper_foot_3_material">
        <color rgba="0.282353 0.54902 0.160784 1"/>
      </material>
    </visual>
    <collision>
      <origin xyz="-0.04425 2.77556e-17 -0.0305" rpy="-2.30379e-16 1.5708 0"/>
      <geometry>
        <mesh filename="package://meshes\upper_foot.stl"/>
      </geometry>
    </collision>
    <!-- Part servo_wheel_17 -->
    <visual>
      <origin xyz="-2.77556e-17 -2.77556e-17 -0.0025" rpy="-3.14159 -1.98424e-18 -2.49583e-17"/>
      <geometry>
        <mesh filename="package://meshes\servo_wheel.stl"/>
      </geometry>
      <material name="servo_wheel_17_material">
        <color rgba="0.647059 0.647059 0.647059 1"/>
      </material>
    </visual>
    <collision>
      <origin xyz="-2.77556e-17 -2.77556e-17 -0.0025" rpy="-3.14159 -1.98424e-18 -2.49583e-17"/>
      <geometry>
        <mesh filename="package://meshes\servo_wheel.stl"/>
      </geometry>
    </collision>
    <!-- Part servo_9 -->
    <visual>
      <origin xyz="-0.0175 -0.00140442 -0.0305" rpy="3.14159 1.60119e-15 -4.30816e-16"/>
      <geometry>
        <mesh filename="package://meshes\servo.stl"/>
      </geometry>
      <material name="servo_9_material">
        <color rgba="0.109804 0.109804 0.105882 1"/>
      </material>
    </visual>
    <collision>
      <origin xyz="-0.0175 -0.00140442 -0.0305" rpy="3.14159 1.60119e-15 -4.30816e-16"/>
      <geometry>
        <mesh filename="package://meshes\servo.stl"/>
      </geometry>
    </collision>
    <!-- Part fixed_bracket_9 -->
    <visual>
      <origin xyz="-0.0575 2.77556e-17 -0.0305" rpy="1.5708 1.5708 0"/>
      <geometry>
        <mesh filename="package://meshes\fixed_bracket.stl"/>
      </geometry>
      <material name="fixed_bracket_9_material">
        <color rgba="0.647059 0.647059 0.647059 1"/>
      </material>
    </visual>
    <collision>
      <origin xyz="-0.0575 2.77556e-17 -0.0305" rpy="1.5708 1.5708 0"/>
      <geometry>
        <mesh filename="package://meshes\fixed_bracket.stl"/>
      </geometry>
    </collision>
    <!-- Part servo_wheel_18 -->
    <visual>
      <origin xyz="8.32667e-17 -5.55112e-17 -0.0585" rpy="3.14159 -2.6438e-15 -3.11145e-16"/>
      <geometry>
        <mesh filename="package://meshes\servo_wheel.stl"/>
      </geometry>
      <material name="servo_wheel_18_material">
        <color rgba="0.647059 0.647059 0.647059 1"/>
      </material>
    </visual>
    <collision>
      <origin xyz="8.32667e-17 -5.55112e-17 -0.0585" rpy="3.14159 -2.6438e-15 -3.11145e-16"/>
      <geometry>
        <mesh filename="package://meshes\servo_wheel.stl"/>
      </geometry>
    </collision>
  </link>
  <!-- Joint from ties_3 to foot_3 -->
  <joint name="foot_3" type="revolute">
    <origin xyz="0.0939313 0.107159 -0.000116718" rpy="8.4718e-15 8.1741e-16 2.33075"/>
    <parent link="ties_3"/>
    <child link="foot_3"/>
    <axis xyz="0 0 1"/>
    <limit effort="10" velocity="10" lower="-0.432463" upper="3.75633"/>
  </joint>
  <!-- Joint from hip_3 to ties_3 -->
  <joint name="ties_3" type="revolute">
    <origin xyz="-0.0925 0.0311167 -0.0305" rpy="1.5708 -8.32667e-16 3.14159"/>
    <parent link="hip_3"/>
    <child link="ties_3"/>
    <axis xyz="0 0 1"/>
    <limit effort="10" velocity="10" lower="-2.59641" upper="0.894244"/>
  </joint>
  <!-- Joint from body to hip_3 -->
  <joint name="hip_3" type="revolute">
    <origin xyz="-0.196952 0.105451 -0.012626" rpy="-2.0868e-15 1.31547e-15 -1.61555"/>
    <parent link="body"/>
    <child link="hip_3"/>
    <axis xyz="0 0 1"/>
    <limit effort="10" velocity="10" lower="-1.52605" upper="1.61555"/>
  </joint>
  <!-- Link hip_4 -->
  <link name="hip_4">
    <inertial>
      <origin xyz="-0.0269131 -0.000143241 -0.030132" rpy="0 0 0"/>
      <mass value="0.367257"/>
      <inertia ixx="0.000167559" ixy="9.74102e-07" ixz="3.62589e-06" iyy="0.000313217" iyz="-1.48186e-06" izz="0.000311521"/>
    </inertial>
    <!-- Part hip_4 -->
    <visual>
      <origin xyz="-0.0575 1.38778e-16 -0.0045" rpy="2.77813e-15 -9.71445e-17 -2.24995e-16"/>
      <geometry>
        <mesh filename="package://meshes\hip.stl"/>
      </geometry>
      <material name="hip_4_material">
        <color rgba="0.196078 0.439216 0.0784314 1"/>
      </material>
    </visual>
    <collision>
      <origin xyz="-0.0575 1.38778e-16 -0.0045" rpy="2.77813e-15 -9.71445e-17 -2.24995e-16"/>
      <geometry>
        <mesh filename="package://meshes\hip.stl"/>
      </geometry>
    </collision>
    <!-- Part mobile_bracket_13 -->
    <visual>
      <origin xyz="-0.0575 8.32667e-17 -0.0305" rpy="9.71445e-17 -1.31768e-15 1.5708"/>
      <geometry>
        <mesh filename="package://meshes\mobile_bracket.stl"/>
      </geometry>
      <material name="mobile_bracket_13_material">
        <color rgba="0.647059 0.647059 0.647059 1"/>
      </material>
    </visual>
    <collision>
      <origin xyz="-0.0575 8.32667e-17 -0.0305" rpy="9.71445e-17 -1.31768e-15 1.5708"/>
      <geometry>
        <mesh filename="package://meshes\mobile_bracket.stl"/>
      </geometry>
    </collision>
    <!-- Part servo_wheel_19 -->
    <visual>
      <origin xyz="0 0 -0.0025" rpy="-3.14159 1.8263e-31 2.98589e-17"/>
      <geometry>
        <mesh filename="package://meshes\servo_wheel.stl"/>
      </geometry>
      <material name="servo_wheel_19_material">
        <color rgba="0.647059 0.647059 0.647059 1"/>
      </material>
    </visual>
    <collision>
      <origin xyz="0 0 -0.0025" rpy="-3.14159 1.8263e-31 2.98589e-17"/>
      <geometry>
        <mesh filename="package://meshes\servo_wheel.stl"/>
      </geometry>
    </collision>
    <!-- Part servo_10 -->
    <visual>
      <origin xyz="-0.0175 -0.00140442 -0.0305" rpy="-3.14159 -2.91434e-16 -5.34443e-16"/>
      <geometry>
        <mesh filename="package://meshes\servo.stl"/>
      </geometry>
      <material name="servo_10_material">
        <color rgba="0.109804 0.109804 0.105882 1"/>
      </material>
    </visual>
    <collision>
      <origin xyz="-0.0175 -0.00140442 -0.0305" rpy="-3.14159 -2.91434e-16 -5.34443e-16"/>
      <geometry>
        <mesh filename="package://meshes\servo.stl"/>
      </geometry>
    </collision>
    <!-- Part fixed_bracket_10 -->
    <visual>
      <origin xyz="-0.0575 8.32667e-17 -0.0305" rpy="1.5708 1.5708 0"/>
      <geometry>
        <mesh filename="package://meshes\fixed_bracket.stl"/>
      </geometry>
      <material name="fixed_bracket_10_material">
        <color rgba="0.647059 0.647059 0.647059 1"/>
      </material>
    </visual>
    <collision>
      <origin xyz="-0.0575 8.32667e-17 -0.0305" rpy="1.5708 1.5708 0"/>
      <geometry>
        <mesh filename="package://meshes\fixed_bracket.stl"/>
      </geometry>
    </collision>
    <!-- Part servo_wheel_20 -->
    <visual>
      <origin xyz="0 2.77556e-17 -0.0585" rpy="-3.14159 6.10623e-16 -2.00365e-16"/>
      <geometry>
        <mesh filename="package://meshes\servo_wheel.stl"/>
      </geometry>
      <material name="servo_wheel_20_material">
        <color rgba="0.647059 0.647059 0.647059 1"/>
      </material>
    </visual>
    <collision>
      <origin xyz="0 2.77556e-17 -0.0585" rpy="-3.14159 6.10623e-16 -2.00365e-16"/>
      <geometry>
        <mesh filename="package://meshes\servo_wheel.stl"/>
      </geometry>
    </collision>
  </link>
  <!-- Link ties_4 -->
  <link name="ties_4">
    <inertial>
      <origin xyz="0.0248542 0.0353706 -0.0311253" rpy="0 0 0"/>
      <mass value="0.468272"/>
      <inertia ixx="0.00067748" ixy="-0.000328075" ixz="5.81256e-06" iyy="0.000461864" iyz="7.69475e-06" izz="0.000767114"/>
    </inertial>
    <!-- Part mobile_bracket_14 -->
    <visual>
      <origin xyz="0.0631077 0.0870268 -0.0305" rpy="0.627409 1.5708 0"/>
      <geometry>
        <mesh filename="package://meshes\mobile_bracket.stl"/>
      </geometry>
      <material name="mobile_bracket_14_material">
        <color rgba="0.647059 0.647059 0.647059 1"/>
      </material>
    </visual>
    <collision>
      <origin xyz="0.0631077 0.0870268 -0.0305" rpy="0.627409 1.5708 0"/>
      <geometry>
        <mesh filename="package://meshes\mobile_bracket.stl"/>
      </geometry>
    </collision>
    <!-- Part tie_4 -->
    <visual>
      <origin xyz="0.0161438 0.0222627 -0.0305" rpy="-0.943388 1.5708 0"/>
      <geometry>
        <mesh filename="package://meshes\tie.stl"/>
      </geometry>
      <material name="tie_4_material">
        <color rgba="0.196078 0.439216 0.0784314 1"/>
      </material>
    </visual>
    <collision>
      <origin xyz="0.0161438 0.0222627 -0.0305" rpy="-0.943388 1.5708 0"/>
      <geometry>
        <mesh filename="package://meshes\tie.stl"/>
      </geometry>
    </collision>
    <!-- Part servo_wheel_21 -->
    <visual>
      <origin xyz="-1.66533e-16 -2.08167e-17 -0.0025" rpy="-3.14159 -3.50602e-15 -2.1982"/>
      <geometry>
        <mesh filename="package://meshes\servo_wheel.stl"/>
      </geometry>
      <material name="servo_wheel_21_material">
        <color rgba="0.647059 0.647059 0.647059 1"/>
      </material>
    </visual>
    <collision>
      <origin xyz="-1.66533e-16 -2.08167e-17 -0.0025" rpy="-3.14159 -3.50602e-15 -2.1982"/>
      <geometry>
        <mesh filename="package://meshes\servo_wheel.stl"/>
      </geometry>
    </collision>
    <!-- Part servo_11 -->
    <visual>
      <origin xyz="0.0091364 0.0149916 -0.0305" rpy="3.14159 -2.38808e-15 -2.1982"/>
      <geometry>
        <mesh filename="package://meshes\servo.stl"/>
      </geometry>
      <material name="servo_11_material">
        <color rgba="0.109804 0.109804 0.105882 1"/>
      </material>
    </visual>
    <collision>
      <origin xyz="0.0091364 0.0149916 -0.0305" rpy="3.14159 -2.38808e-15 -2.1982"/>
      <geometry>
        <mesh filename="package://meshes\servo.stl"/>
      </geometry>
    </collision>
    <!-- Part fixed_bracket_11 -->
    <visual>
      <origin xyz="0.0337553 0.0465492 -0.0305" rpy="-2.51418 1.5708 0"/>
      <geometry>
        <mesh filename="package://meshes\fixed_bracket.stl"/>
      </geometry>
      <material name="fixed_bracket_11_material">
        <color rgba="0.647059 0.647059 0.647059 1"/>
      </material>
    </visual>
    <collision>
      <origin xyz="0.0337553 0.0465492 -0.0305" rpy="-2.51418 1.5708 0"/>
      <geometry>
        <mesh filename="package://meshes\fixed_bracket.stl"/>
      </geometry>
    </collision>
    <!-- Part servo_wheel_22 -->
    <visual>
      <origin xyz="-5.55112e-17 -9.02056e-17 -0.0585" rpy="-3.14159 -6.76602e-15 -2.1982"/>
      <geometry>
        <mesh filename="package://meshes\servo_wheel.stl"/>
      </geometry>
      <material name="servo_wheel_22_material">
        <color rgba="0.647059 0.647059 0.647059 1"/>
      </material>
    </visual>
    <collision>
      <origin xyz="-5.55112e-17 -9.02056e-17 -0.0585" rpy="-3.14159 -6.76602e-15 -2.1982"/>
      <geometry>
        <mesh filename="package://meshes\servo_wheel.stl"/>
      </geometry>
    </collision>
  </link>
  <!-- Link foot_4 -->
  <link name="foot_4">
    <inertial>
      <origin xyz="-0.0743464 -0.000710193 -0.030632" rpy="0 0 0"/>
      <mass value="0.61675"/>
      <inertia ixx="0.000244104" ixy="-1.43889e-05" ixz="2.03993e-06" iyy="0.00314722" iyz="1.38557e-07" izz="0.00298873"/>
    </inertial>
    <!-- Part rubber_foot_4 -->
    <visual>
      <origin xyz="-0.04475 5.55112e-17 -0.0305" rpy="-7.99637e-16 1.5708 0"/>
      <geometry>
        <mesh filename="package://meshes\rubber_foot.stl"/>
      </geometry>
      <material name="rubber_foot_4_material">
        <color rgba="0.262745 0.282353 0.301961 1"/>
      </material>
    </visual>
    <collision>
      <origin xyz="-0.04475 5.55112e-17 -0.0305" rpy="-7.99637e-16 1.5708 0"/>
      <geometry>
        <mesh filename="package://meshes\rubber_foot.stl"/>
      </geometry>
    </collision>
    <!-- Part lower_foot_4 -->
    <visual>
      <origin xyz="-0.04425 -5.55112e-17 -0.0305" rpy="-2.92746e-16 1.5708 0"/>
      <geometry>
        <mesh filename="package://meshes\lower_foot.stl"/>
      </geometry>
      <material name="lower_foot_4_material">
        <color rgba="0.282353 0.54902 0.160784 1"/>
      </material>
    </visual>
    <collision>
      <origin xyz="-0.04425 -5.55112e-17 -0.0305" rpy="-2.92746e-16 1.5708 0"/>
      <geometry>
        <mesh filename="package://meshes\lower_foot.stl"/>
      </geometry>
    </collision>
    <!-- Part weight_beam_4 -->
    <visual>
      <origin xyz="-0.04425 0 -0.0305" rpy="-7.68981e-16 1.5708 0"/>
      <geometry>
        <mesh filename="package://meshes\weight_beam.stl"/>
      </geometry>
      <material name="weight_beam_4_material">
        <color rgba="0.917647 0.917647 0.917647 1"/>
      </material>
    </visual>
    <collision>
      <origin xyz="-0.04425 0 -0.0305" rpy="-7.68981e-16 1.5708 0"/>
      <geometry>
        <mesh filename="package://meshes\weight_beam.stl"/>
      </geometry>
    </collision>
    <!-- Part upper_foot_4 -->
    <visual>
      <origin xyz="-0.04425 -5.55112e-17 -0.0305" rpy="-3.12465e-16 1.5708 0"/>
      <geometry>
        <mesh filename="package://meshes\upper_foot.stl"/>
      </geometry>
      <material name="upper_foot_4_material">
        <color rgba="0.282353 0.54902 0.160784 1"/>
      </material>
    </visual>
    <collision>
      <origin xyz="-0.04425 -5.55112e-17 -0.0305" rpy="-3.12465e-16 1.5708 0"/>
      <geometry>
        <mesh filename="package://meshes\upper_foot.stl"/>
      </geometry>
    </collision>
    <!-- Part servo_wheel_23 -->
    <visual>
      <origin xyz="-5.55112e-17 0 -0.0025" rpy="3.14159 2.0289e-17 2.76226e-18"/>
      <geometry>
        <mesh filename="package://meshes\servo_wheel.stl"/>
      </geometry>
      <material name="servo_wheel_23_material">
        <color rgba="0.647059 0.647059 0.647059 1"/>
      </material>
    </visual>
    <collision>
      <origin xyz="-5.55112e-17 0 -0.0025" rpy="3.14159 2.0289e-17 2.76226e-18"/>
      <geometry>
        <mesh filename="package://meshes\servo_wheel.stl"/>
      </geometry>
    </collision>
    <!-- Part servo_12 -->
    <visual>
      <origin xyz="-0.0175 -0.00140442 -0.0305" rpy="3.14159 9.67471e-16 1.03262e-15"/>
      <geometry>
        <mesh filename="package://meshes\servo.stl"/>
      </geometry>
      <material name="servo_12_material">
        <color rgba="0.109804 0.109804 0.105882 1"/>
      </material>
    </visual>
    <collision>
      <origin xyz="-0.0175 -0.00140442 -0.0305" rpy="3.14159 9.67471e-16 1.03262e-15"/>
      <geometry>
        <mesh filename="package://meshes\servo.stl"/>
      </geometry>
    </collision>
    <!-- Part fixed_bracket_12 -->
    <visual>
      <origin xyz="-0.0575 -5.55112e-17 -0.0305" rpy="1.5708 1.5708 0"/>
      <geometry>
        <mesh filename="package://meshes\fixed_bracket.stl"/>
      </geometry>
      <material name="fixed_bracket_12_material">
        <color rgba="0.647059 0.647059 0.647059 1"/>
      </material>
    </visual>
    <collision>
      <origin xyz="-0.0575 -5.55112e-17 -0.0305" rpy="1.5708 1.5708 0"/>
      <geometry>
        <mesh filename="package://meshes\fixed_bracket.stl"/>
      </geometry>
    </collision>
    <!-- Part servo_wheel_24 -->
    <visual>
      <origin xyz="0 5.55112e-17 -0.0585" rpy="-3.14159 4.38001e-16 4.1255e-16"/>
      <geometry>
        <mesh filename="package://meshes\servo_wheel.stl"/>
      </geometry>
      <material name="servo_wheel_24_material">
        <color rgba="0.647059 0.647059 0.647059 1"/>
      </material>
    </visual>
    <collision>
      <origin xyz="0 5.55112e-17 -0.0585" rpy="-3.14159 4.38001e-16 4.1255e-16"/>
      <geometry>
        <mesh filename="package://meshes\servo_wheel.stl"/>
      </geometry>
    </collision>
  </link>
  <!-- Joint from ties_4 to foot_4 -->
  <joint name="foot_4" type="revolute">
    <origin xyz="0.0836545 0.115361 -0.000116718" rpy="2.30727e-15 -2.8566e-15 2.31531"/>
    <parent link="ties_4"/>
    <child link="foot_4"/>
    <axis xyz="0 0 1"/>
    <limit effort="10" velocity="10" lower="-0.324722" upper="3.86407"/>
  </joint>
  <!-- Joint from hip_4 to ties_4 -->
  <joint name="ties_4" type="revolute">
    <origin xyz="-0.0925 0.0311167 -0.0305" rpy="1.5708 -9.71445e-17 -3.14159"/>
    <parent link="hip_4"/>
    <child link="ties_4"/>
    <axis xyz="0 0 1"/>
    <limit effort="10" velocity="10" lower="-2.68872" upper="0.801941"/>
  </joint>
  <!-- Joint from body to hip_4 -->
  <joint name="hip_4" type="revolute">
    <origin xyz="-0.333603 0.0265561 -0.012626" rpy="-2.97536e-15 -4.73545e-16 -0.468195"/>
    <parent link="body"/>
    <child link="hip_4"/>
    <axis xyz="0 0 1"/>
    <limit effort="10" velocity="10" lower="-1.6262" upper="1.51539"/>
  </joint>
  <!-- Link hip_5 -->
  <link name="hip_5">
    <inertial>
      <origin xyz="-0.0269131 0.000143241 -0.030868" rpy="0 0 0"/>
      <mass value="0.367257"/>
      <inertia ixx="0.000167559" ixy="-9.74102e-07" ixz="-3.62589e-06" iyy="0.000313217" iyz="-1.48186e-06" izz="0.000311521"/>
    </inertial>
    <!-- Part hip_5 -->
    <visual>
      <origin xyz="-0.0575 -1.38778e-16 -0.0565" rpy="-3.14159 2.15106e-16 -1.50245e-15"/>
      <geometry>
        <mesh filename="package://meshes\hip.stl"/>
      </geometry>
      <material name="hip_5_material">
        <color rgba="0.196078 0.439216 0.0784314 1"/>
      </material>
    </visual>
    <collision>
      <origin xyz="-0.0575 -1.38778e-16 -0.0565" rpy="-3.14159 2.15106e-16 -1.50245e-15"/>
      <geometry>
        <mesh filename="package://meshes\hip.stl"/>
      </geometry>
    </collision>
    <!-- Part mobile_bracket_15 -->
    <visual>
      <origin xyz="-0.0575 1.38778e-17 -0.0305" rpy="3.14159 9.15934e-16 -1.5708"/>
      <geometry>
        <mesh filename="package://meshes\mobile_bracket.stl"/>
      </geometry>
      <material name="mobile_bracket_15_material">
        <color rgba="0.647059 0.647059 0.647059 1"/>
      </material>
    </visual>
    <collision>
      <origin xyz="-0.0575 1.38778e-17 -0.0305" rpy="3.14159 9.15934e-16 -1.5708"/>
      <geometry>
        <mesh filename="package://meshes\mobile_bracket.stl"/>
      </geometry>
    </collision>
    <!-- Part servo_wheel_25 -->
    <visual>
      <origin xyz="1.11022e-16 0 -0.0585" rpy="2.26208e-15 -2.28983e-16 -2.91621e-16"/>
      <geometry>
        <mesh filename="package://meshes\servo_wheel.stl"/>
      </geometry>
      <material name="servo_wheel_25_material">
        <color rgba="0.647059 0.647059 0.647059 1"/>
      </material>
    </visual>
    <collision>
      <origin xyz="1.11022e-16 0 -0.0585" rpy="2.26208e-15 -2.28983e-16 -2.91621e-16"/>
      <geometry>
        <mesh filename="package://meshes\servo_wheel.stl"/>
      </geometry>
    </collision>
    <!-- Part servo_13 -->
    <visual>
      <origin xyz="-0.0175 0.00140442 -0.0305" rpy="2.26208e-15 -2.28983e-16 -2.91621e-16"/>
      <geometry>
        <mesh filename="package://meshes\servo.stl"/>
      </geometry>
      <material name="servo_13_material">
        <color rgba="0.109804 0.109804 0.105882 1"/>
      </material>
    </visual>
    <collision>
      <origin xyz="-0.0175 0.00140442 -0.0305" rpy="2.26208e-15 -2.28983e-16 -2.91621e-16"/>
      <geometry>
        <mesh filename="package://meshes\servo.stl"/>
      </geometry>
    </collision>
    <!-- Part fixed_bracket_13 -->
    <visual>
      <origin xyz="-0.0575 1.38778e-17 -0.0305" rpy="-1.5708 -1.5708 0"/>
      <geometry>
        <mesh filename="package://meshes\fixed_bracket.stl"/>
      </geometry>
      <material name="fixed_bracket_13_material">
        <color rgba="0.647059 0.647059 0.647059 1"/>
      </material>
    </visual>
    <collision>
      <origin xyz="-0.0575 1.38778e-17 -0.0305" rpy="-1.5708 -1.5708 0"/>
      <geometry>
        <mesh filename="package://meshes\fixed_bracket.stl"/>
      </geometry>
    </collision>
    <!-- Part servo_wheel_26 -->
    <visual>
      <origin xyz="5.55112e-17 -1.38778e-17 -0.0025" rpy="-2.30103e-31 1.05154e-31 8.44036e-17"/>
      <geometry>
        <mesh filename="package://meshes\servo_wheel.stl"/>
      </geometry>
      <material name="servo_wheel_26_material">
        <color rgba="0.647059 0.647059 0.647059 1"/>
      </material>
    </visual>
    <collision>
      <origin xyz="5.55112e-17 -1.38778e-17 -0.0025" rpy="-2.30103e-31 1.05154e-31 8.44036e-17"/>
      <geometry>
        <mesh filename="package://meshes\servo_wheel.stl"/>
      </geometry>
    </collision>
  </link>
  <!-- Link ties_5 -->
  <link name="ties_5">
    <inertial>
      <origin xyz="0.0186226 0.0390129 -0.0311253" rpy="0 0 0"/>
      <mass value="0.468272"/>
      <inertia ixx="0.000779162" ixy="-0.000274535" ixz="4.45125e-06" iyy="0.000360181" iyz="8.55461e-06" izz="0.000767114"/>
    </inertial>
    <!-- Part mobile_bracket_16 -->
    <visual>
      <origin xyz="0.0477481 0.0963139 -0.0305" rpy="0.460246 1.5708 0"/>
      <geometry>
        <mesh filename="package://meshes\mobile_bracket.stl"/>
      </geometry>
      <material name="mobile_bracket_16_material">
        <color rgba="0.647059 0.647059 0.647059 1"/>
      </material>
    </visual>
    <collision>
      <origin xyz="0.0477481 0.0963139 -0.0305" rpy="0.460246 1.5708 0"/>
      <geometry>
        <mesh filename="package://meshes\mobile_bracket.stl"/>
      </geometry>
    </collision>
    <!-- Part tie_5 -->
    <visual>
      <origin xyz="0.0122146 0.0246384 -0.0305" rpy="-1.11055 1.5708 0"/>
      <geometry>
        <mesh filename="package://meshes\tie.stl"/>
      </geometry>
      <material name="tie_5_material">
        <color rgba="0.196078 0.439216 0.0784314 1"/>
      </material>
    </visual>
    <collision>
      <origin xyz="0.0122146 0.0246384 -0.0305" rpy="-1.11055 1.5708 0"/>
      <geometry>
        <mesh filename="package://meshes\tie.stl"/>
      </geometry>
    </collision>
    <!-- Part servo_wheel_27 -->
    <visual>
      <origin xyz="0 0 -0.0025" rpy="3.14159 -2.86356e-15 -2.03104"/>
      <geometry>
        <mesh filename="package://meshes\servo_wheel.stl"/>
      </geometry>
      <material name="servo_wheel_27_material">
        <color rgba="0.647059 0.647059 0.647059 1"/>
      </material>
    </visual>
    <collision>
      <origin xyz="0 0 -0.0025" rpy="3.14159 -2.86356e-15 -2.03104"/>
      <geometry>
        <mesh filename="package://meshes\servo_wheel.stl"/>
      </geometry>
    </collision>
    <!-- Part servo_14 -->
    <visual>
      <origin xyz="0.00651467 0.0163028 -0.0305" rpy="3.14159 -6.26043e-15 -2.03104"/>
      <geometry>
        <mesh filename="package://meshes\servo.stl"/>
      </geometry>
      <material name="servo_14_material">
        <color rgba="0.109804 0.109804 0.105882 1"/>
      </material>
    </visual>
    <collision>
      <origin xyz="0.00651467 0.0163028 -0.0305" rpy="3.14159 -6.26043e-15 -2.03104"/>
      <geometry>
        <mesh filename="package://meshes\servo.stl"/>
      </geometry>
    </collision>
    <!-- Part fixed_bracket_14 -->
    <visual>
      <origin xyz="0.0255397 0.0515167 -0.0305" rpy="-2.68135 1.5708 0"/>
      <geometry>
        <mesh filename="package://meshes\fixed_bracket.stl"/>
      </geometry>
      <material name="fixed_bracket_14_material">
        <color rgba="0.647059 0.647059 0.647059 1"/>
      </material>
    </visual>
    <collision>
      <origin xyz="0.0255397 0.0515167 -0.0305" rpy="-2.68135 1.5708 0"/>
      <geometry>
        <mesh filename="package://meshes\fixed_bracket.stl"/>
      </geometry>
    </collision>
    <!-- Part servo_wheel_28 -->
    <visual>
      <origin xyz="5.55112e-17 0 -0.0585" rpy="3.14159 -6.27159e-15 -2.03104"/>
      <geometry>
        <mesh filename="package://meshes\servo_wheel.stl"/>
      </geometry>
      <material name="servo_wheel_28_material">
        <color rgba="0.647059 0.647059 0.647059 1"/>
      </material>
    </visual>
    <collision>
      <origin xyz="5.55112e-17 0 -0.0585" rpy="3.14159 -6.27159e-15 -2.03104"/>
      <geometry>
        <mesh filename="package://meshes\servo_wheel.stl"/>
      </geometry>
    </collision>
  </link>
  <!-- Link foot_5 -->
  <link name="foot_5">
    <inertial>
      <origin xyz="-0.0743464 -0.000710193 -0.030632" rpy="0 0 0"/>
      <mass value="0.61675"/>
      <inertia ixx="0.000244104" ixy="-1.43889e-05" ixz="2.03993e-06" iyy="0.00314722" iyz="1.38557e-07" izz="0.00298873"/>
    </inertial>
    <!-- Part rubber_foot_5 -->
    <visual>
      <origin xyz="-0.04475 6.10623e-16 -0.0305" rpy="-2.40662e-15 1.5708 0"/>
      <geometry>
        <mesh filename="package://meshes\rubber_foot.stl"/>
      </geometry>
      <material name="rubber_foot_5_material">
        <color rgba="0.262745 0.282353 0.301961 1"/>
      </material>
    </visual>
    <collision>
      <origin xyz="-0.04475 6.10623e-16 -0.0305" rpy="-2.40662e-15 1.5708 0"/>
      <geometry>
        <mesh filename="package://meshes\rubber_foot.stl"/>
      </geometry>
    </collision>
    <!-- Part lower_foot_5 -->
    <visual>
      <origin xyz="-0.04425 5.55112e-17 -0.0305" rpy="3.08175e-17 1.5708 0"/>
      <geometry>
        <mesh filename="package://meshes\lower_foot.stl"/>
      </geometry>
      <material name="lower_foot_5_material">
        <color rgba="0.282353 0.54902 0.160784 1"/>
      </material>
    </visual>
    <collision>
      <origin xyz="-0.04425 5.55112e-17 -0.0305" rpy="3.08175e-17 1.5708 0"/>
      <geometry>
        <mesh filename="package://meshes\lower_foot.stl"/>
      </geometry>
    </collision>
    <!-- Part weight_beam_5 -->
    <visual>
      <origin xyz="-0.04425 5.55112e-17 -0.0305" rpy="-1.30484e-16 1.5708 0"/>
      <geometry>
        <mesh filename="package://meshes\weight_beam.stl"/>
      </geometry>
      <material name="weight_beam_5_material">
        <color rgba="0.917647 0.917647 0.917647 1"/>
      </material>
    </visual>
    <collision>
      <origin xyz="-0.04425 5.55112e-17 -0.0305" rpy="-1.30484e-16 1.5708 0"/>
      <geometry>
        <mesh filename="package://meshes\weight_beam.stl"/>
      </geometry>
    </collision>
    <!-- Part upper_foot_5 -->
    <visual>
      <origin xyz="-0.04425 5.55112e-17 -0.0305" rpy="1.00162e-16 1.5708 0"/>
      <geometry>
        <mesh filename="package://meshes\upper_foot.stl"/>
      </geometry>
      <material name="upper_foot_5_material">
        <color rgba="0.282353 0.54902 0.160784 1"/>
      </material>
    </visual>
    <collision>
      <origin xyz="-0.04425 5.55112e-17 -0.0305" rpy="1.00162e-16 1.5708 0"/>
      <geometry>
        <mesh filename="package://meshes\upper_foot.stl"/>
      </geometry>
    </collision>
    <!-- Part servo_wheel_29 -->
    <visual>
      <origin xyz="2.77556e-17 1.11022e-16 -0.0025" rpy="3.14159 5.24658e-18 -8.48218e-17"/>
      <geometry>
        <mesh filename="package://meshes\servo_wheel.stl"/>
      </geometry>
      <material name="servo_wheel_29_material">
        <color rgba="0.647059 0.647059 0.647059 1"/>
      </material>
    </visual>
    <collision>
      <origin xyz="2.77556e-17 1.11022e-16 -0.0025" rpy="3.14159 5.24658e-18 -8.48218e-17"/>
      <geometry>
        <mesh filename="package://meshes\servo_wheel.stl"/>
      </geometry>
    </collision>
    <!-- Part servo_15 -->
    <visual>
      <origin xyz="-0.0175 -0.00140442 -0.0305" rpy="-3.14159 1.49138e-16 -4.46508e-17"/>
      <geometry>
        <mesh filename="package://meshes\servo.stl"/>
      </geometry>
      <material name="servo_15_material">
        <color rgba="0.109804 0.109804 0.105882 1"/>
      </material>
    </visual>
    <collision>
      <origin xyz="-0.0175 -0.00140442 -0.0305" rpy="-3.14159 1.49138e-16 -4.46508e-17"/>
      <geometry>
        <mesh filename="package://meshes\servo.stl"/>
      </geometry>
    </collision>
    <!-- Part fixed_bracket_15 -->
    <visual>
      <origin xyz="-0.0575 5.55112e-17 -0.0305" rpy="1.5708 1.5708 0"/>
      <geometry>
        <mesh filename="package://meshes\fixed_bracket.stl"/>
      </geometry>
      <material name="fixed_bracket_15_material">
        <color rgba="0.647059 0.647059 0.647059 1"/>
      </material>
    </visual>
    <collision>
      <origin xyz="-0.0575 5.55112e-17 -0.0305" rpy="1.5708 1.5708 0"/>
      <geometry>
        <mesh filename="package://meshes\fixed_bracket.stl"/>
      </geometry>
    </collision>
    <!-- Part servo_wheel_30 -->
    <visual>
      <origin xyz="1.94289e-16 0 -0.0585" rpy="3.14159 3.93825e-16 3.03756e-16"/>
      <geometry>
        <mesh filename="package://meshes\servo_wheel.stl"/>
      </geometry>
      <material name="servo_wheel_30_material">
        <color rgba="0.647059 0.647059 0.647059 1"/>
      </material>
    </visual>
    <collision>
      <origin xyz="1.94289e-16 0 -0.0585" rpy="3.14159 3.93825e-16 3.03756e-16"/>
      <geometry>
        <mesh filename="package://meshes\servo_wheel.stl"/>
      </geometry>
    </collision>
  </link>
  <!-- Joint from ties_5 to foot_5 -->
  <joint name="foot_5" type="revolute">
    <origin xyz="0.063294 0.127672 -0.000116718" rpy="2.73845e-15 -1.75144e-15 2.22613"/>
    <parent link="ties_5"/>
    <child link="foot_5"/>
    <axis xyz="0 0 1"/>
    <limit effort="10" velocity="10" lower="-0.0683837" upper="4.12041"/>
  </joint>
  <!-- Joint from hip_5 to ties_5 -->
  <joint name="ties_5" type="revolute">
    <origin xyz="-0.0925 -0.0311167 -0.0305" rpy="-1.5708 -1.38778e-16 3.14159"/>
    <parent link="hip_5"/>
    <child link="ties_5"/>
    <axis xyz="0 0 1"/>
    <limit effort="10" velocity="10" lower="-2.85588" upper="0.634779"/>
  </joint>
  <!-- Joint from body to hip_5 -->
  <joint name="hip_5" type="revolute">
    <origin xyz="-0.333603 -0.131234 -0.074126" rpy="3.14159 1.60733e-15 0.64378"/>
    <parent link="body"/>
    <child link="hip_5"/>
    <axis xyz="0 0 1"/>
    <limit effort="10" velocity="10" lower="-1.45061" upper="1.69098"/>
  </joint>
  <!-- Link hip_6 -->
  <link name="hip_6">
    <inertial>
      <origin xyz="-0.0269131 -0.000143241 -0.030132" rpy="0 0 0"/>
      <mass value="0.367257"/>
      <inertia ixx="0.000167559" ixy="9.74102e-07" ixz="3.62589e-06" iyy="0.000313217" iyz="-1.48186e-06" izz="0.000311521"/>
    </inertial>
    <!-- Part hip_6 -->
    <visual>
      <origin xyz="-0.0575 1.94289e-16 -0.0045" rpy="-2.77556e-17 -1.45717e-16 1.66166e-15"/>
      <geometry>
        <mesh filename="package://meshes\hip.stl"/>
      </geometry>
      <material name="hip_6_material">
        <color rgba="0.196078 0.439216 0.0784314 1"/>
      </material>
    </visual>
    <collision>
      <origin xyz="-0.0575 1.94289e-16 -0.0045" rpy="-2.77556e-17 -1.45717e-16 1.66166e-15"/>
      <geometry>
        <mesh filename="package://meshes\hip.stl"/>
      </geometry>
    </collision>
    <!-- Part mobile_bracket_17 -->
    <visual>
      <origin xyz="-0.0575 4.16334e-17 -0.0305" rpy="4.16334e-17 5.27356e-16 1.5708"/>
      <geometry>
        <mesh filename="package://meshes\mobile_bracket.stl"/>
      </geometry>
      <material name="mobile_bracket_17_material">
        <color rgba="0.647059 0.647059 0.647059 1"/>
      </material>
    </visual>
    <collision>
      <origin xyz="-0.0575 4.16334e-17 -0.0305" rpy="4.16334e-17 5.27356e-16 1.5708"/>
      <geometry>
        <mesh filename="package://meshes\mobile_bracket.stl"/>
      </geometry>
    </collision>
    <!-- Part servo_wheel_31 -->
    <visual>
      <origin xyz="0 0 -0.0025" rpy="3.14159 -3.05376e-32 6.27924e-17"/>
      <geometry>
        <mesh filename="package://meshes\servo_wheel.stl"/>
      </geometry>
      <material name="servo_wheel_31_material">
        <color rgba="0.647059 0.647059 0.647059 1"/>
      </material>
    </visual>
    <collision>
      <origin xyz="0 0 -0.0025" rpy="3.14159 -3.05376e-32 6.27924e-17"/>
      <geometry>
        <mesh filename="package://meshes\servo_wheel.stl"/>
      </geometry>
    </collision>
    <!-- Part servo_16 -->
    <visual>
      <origin xyz="-0.0175 -0.00140442 -0.0305" rpy="3.14159 2.70617e-16 -9.22699e-17"/>
      <geometry>
        <mesh filename="package://meshes\servo.stl"/>
      </geometry>
      <material name="servo_16_material">
        <color rgba="0.109804 0.109804 0.105882 1"/>
      </material>
    </visual>
    <collision>
      <origin xyz="-0.0175 -0.00140442 -0.0305" rpy="3.14159 2.70617e-16 -9.22699e-17"/>
      <geometry>
        <mesh filename="package://meshes\servo.stl"/>
      </geometry>
    </collision>
    <!-- Part fixed_bracket_16 -->
    <visual>
      <origin xyz="-0.0575 4.16334e-17 -0.0305" rpy="1.5708 1.5708 0"/>
      <geometry>
        <mesh filename="package://meshes\fixed_bracket.stl"/>
      </geometry>
      <material name="fixed_bracket_16_material">
        <color rgba="0.647059 0.647059 0.647059 1"/>
      </material>
    </visual>
    <collision>
      <origin xyz="-0.0575 4.16334e-17 -0.0305" rpy="1.5708 1.5708 0"/>
      <geometry>
        <mesh filename="package://meshes\fixed_bracket.stl"/>
      </geometry>
    </collision>
    <!-- Part servo_wheel_32 -->
    <visual>
      <origin xyz="0 1.38778e-17 -0.0585" rpy="3.14159 1.1588e-15 1.65376e-15"/>
      <geometry>
        <mesh filename="package://meshes\servo_wheel.stl"/>
      </geometry>
      <material name="servo_wheel_32_material">
        <color rgba="0.647059 0.647059 0.647059 1"/>
      </material>
    </visual>
    <collision>
      <origin xyz="0 1.38778e-17 -0.0585" rpy="3.14159 1.1588e-15 1.65376e-15"/>
      <geometry>
        <mesh filename="package://meshes\servo_wheel.stl"/>
      </geometry>
    </collision>
  </link>
  <!-- Link ties_6 -->
  <link name="ties_6">
    <inertial>
      <origin xyz="0.0237566 0.036117 -0.0311253" rpy="0 0 0"/>
      <mass value="0.468272"/>
      <inertia ixx="0.000697411" ixy="-0.00032084" ixz="5.57359e-06" iyy="0.000441933" iyz="7.86957e-06" izz="0.000767114"/>
    </inertial>
    <!-- Part mobile_bracket_18 -->
    <visual>
      <origin xyz="0.0604063 0.0889232 -0.0305" rpy="0.596703 1.5708 0"/>
      <geometry>
        <mesh filename="package://meshes\mobile_bracket.stl"/>
      </geometry>
      <material name="mobile_bracket_18_material">
        <color rgba="0.647059 0.647059 0.647059 1"/>
      </material>
    </visual>
    <collision>
      <origin xyz="0.0604063 0.0889232 -0.0305" rpy="0.596703 1.5708 0"/>
      <geometry>
        <mesh filename="package://meshes\mobile_bracket.stl"/>
      </geometry>
    </collision>
    <!-- Part tie_6 -->
    <visual>
      <origin xyz="0.0154528 0.0227478 -0.0305" rpy="-0.974093 1.5708 0"/>
      <geometry>
        <mesh filename="package://meshes\tie.stl"/>
      </geometry>
      <material name="tie_6_material">
        <color rgba="0.196078 0.439216 0.0784314 1"/>
      </material>
    </visual>
    <collision>
      <origin xyz="0.0154528 0.0227478 -0.0305" rpy="-0.974093 1.5708 0"/>
      <geometry>
        <mesh filename="package://meshes\tie.stl"/>
      </geometry>
    </collision>
    <!-- Part servo_wheel_33 -->
    <visual>
      <origin xyz="-1.11022e-16 -2.77556e-17 -0.0025" rpy="3.14159 -3.21643e-15 -2.1675"/>
      <geometry>
        <mesh filename="package://meshes\servo_wheel.stl"/>
      </geometry>
      <material name="servo_wheel_33_material">
        <color rgba="0.647059 0.647059 0.647059 1"/>
      </material>
    </visual>
    <collision>
      <origin xyz="-1.11022e-16 -2.77556e-17 -0.0025" rpy="3.14159 -3.21643e-15 -2.1675"/>
      <geometry>
        <mesh filename="package://meshes\servo_wheel.stl"/>
      </geometry>
    </collision>
    <!-- Part servo_17 -->
    <visual>
      <origin xyz="0.00867185 0.015265 -0.0305" rpy="3.14159 -3.97573e-15 -2.1675"/>
      <geometry>
        <mesh filename="package://meshes\servo.stl"/>
      </geometry>
      <material name="servo_17_material">
        <color rgba="0.109804 0.109804 0.105882 1"/>
      </material>
    </visual>
    <collision>
      <origin xyz="0.00867185 0.015265 -0.0305" rpy="3.14159 -3.97573e-15 -2.1675"/>
      <geometry>
        <mesh filename="package://meshes\servo.stl"/>
      </geometry>
    </collision>
    <!-- Part fixed_bracket_17 -->
    <visual>
      <origin xyz="0.0323103 0.0475636 -0.0305" rpy="-2.54489 1.5708 0"/>
      <geometry>
        <mesh filename="package://meshes\fixed_bracket.stl"/>
      </geometry>
      <material name="fixed_bracket_17_material">
        <color rgba="0.647059 0.647059 0.647059 1"/>
      </material>
    </visual>
    <collision>
      <origin xyz="0.0323103 0.0475636 -0.0305" rpy="-2.54489 1.5708 0"/>
      <geometry>
        <mesh filename="package://meshes\fixed_bracket.stl"/>
      </geometry>
    </collision>
    <!-- Part servo_wheel_34 -->
    <visual>
      <origin xyz="0 -2.77556e-17 -0.0585" rpy="3.14159 -3.32745e-15 -2.1675"/>
      <geometry>
        <mesh filename="package://meshes\servo_wheel.stl"/>
      </geometry>
      <material name="servo_wheel_34_material">
        <color rgba="0.647059 0.647059 0.647059 1"/>
      </material>
    </visual>
    <collision>
      <origin xyz="0 -2.77556e-17 -0.0585" rpy="3.14159 -3.32745e-15 -2.1675"/>
      <geometry>
        <mesh filename="package://meshes\servo_wheel.stl"/>
      </geometry>
    </collision>
  </link>
  <!-- Link foot_6 -->
  <link name="foot_6">
    <inertial>
      <origin xyz="-0.0743464 -0.000710193 -0.030632" rpy="0 0 0"/>
      <mass value="0.61675"/>
      <inertia ixx="0.000244104" ixy="-1.43889e-05" ixz="2.03993e-06" iyy="0.00314722" iyz="1.38557e-07" izz="0.00298873"/>
    </inertial>
    <!-- Part rubber_foot_6 -->
    <visual>
      <origin xyz="-0.04475 6.66134e-16 -0.0305" rpy="-4.16022e-15 1.5708 0"/>
      <geometry>
        <mesh filename="package://meshes\rubber_foot.stl"/>
      </geometry>
      <material name="rubber_foot_6_material">
        <color rgba="0.262745 0.282353 0.301961 1"/>
      </material>
    </visual>
    <collision>
      <origin xyz="-0.04475 6.66134e-16 -0.0305" rpy="-4.16022e-15 1.5708 0"/>
      <geometry>
        <mesh filename="package://meshes\rubber_foot.stl"/>
      </geometry>
    </collision>
    <!-- Part lower_foot_6 -->
    <visual>
      <origin xyz="-0.04425 0 -0.0305" rpy="-1.40056e-15 1.5708 0"/>
      <geometry>
        <mesh filename="package://meshes\lower_foot.stl"/>
      </geometry>
      <material name="lower_foot_6_material">
        <color rgba="0.282353 0.54902 0.160784 1"/>
      </material>
    </visual>
    <collision>
      <origin xyz="-0.04425 0 -0.0305" rpy="-1.40056e-15 1.5708 0"/>
      <geometry>
        <mesh filename="package://meshes\lower_foot.stl"/>
      </geometry>
    </collision>
    <!-- Part weight_beam_6 -->
    <visual>
      <origin xyz="-0.04425 0 -0.0305" rpy="-9.89347e-16 1.5708 0"/>
      <geometry>
        <mesh filename="package://meshes\weight_beam.stl"/>
      </geometry>
      <material name="weight_beam_6_material">
        <color rgba="0.917647 0.917647 0.917647 1"/>
      </material>
    </visual>
    <collision>
      <origin xyz="-0.04425 0 -0.0305" rpy="-9.89347e-16 1.5708 0"/>
      <geometry>
        <mesh filename="package://meshes\weight_beam.stl"/>
      </geometry>
    </collision>
    <!-- Part upper_foot_6 -->
    <visual>
      <origin xyz="-0.04425 5.55112e-17 -0.0305" rpy="-6.60311e-17 1.5708 0"/>
      <geometry>
        <mesh filename="package://meshes\upper_foot.stl"/>
      </geometry>
      <material name="upper_foot_6_material">
        <color rgba="0.282353 0.54902 0.160784 1"/>
      </material>
    </visual>
    <collision>
      <origin xyz="-0.04425 5.55112e-17 -0.0305" rpy="-6.60311e-17 1.5708 0"/>
      <geometry>
        <mesh filename="package://meshes\upper_foot.stl"/>
      </geometry>
    </collision>
    <!-- Part servo_wheel_35 -->
    <visual>
      <origin xyz="0 -5.55112e-17 -0.0025" rpy="-3.14159 -1.14283e-17 -5.85735e-17"/>
      <geometry>
        <mesh filename="package://meshes\servo_wheel.stl"/>
      </geometry>
      <material name="servo_wheel_35_material">
        <color rgba="0.647059 0.647059 0.647059 1"/>
      </material>
    </visual>
    <collision>
      <origin xyz="0 -5.55112e-17 -0.0025" rpy="-3.14159 -1.14283e-17 -5.85735e-17"/>
      <geometry>
        <mesh filename="package://meshes\servo_wheel.stl"/>
      </geometry>
    </collision>
    <!-- Part servo_18 -->
    <visual>
      <origin xyz="-0.0175 -0.00140442 -0.0305" rpy="3.14159 3.62753e-15 -2.68312e-17"/>
      <geometry>
        <mesh filename="package://meshes\servo.stl"/>
      </geometry>
      <material name="servo_18_material">
        <color rgba="0.109804 0.109804 0.105882 1"/>
      </material>
    </visual>
    <collision>
      <origin xyz="-0.0175 -0.00140442 -0.0305" rpy="3.14159 3.62753e-15 -2.68312e-17"/>
      <geometry>
        <mesh filename="package://meshes\servo.stl"/>
      </geometry>
    </collision>
    <!-- Part fixed_bracket_18 -->
    <visual>
      <origin xyz="-0.0575 0 -0.0305" rpy="1.5708 1.5708 0"/>
      <geometry>
        <mesh filename="package://meshes\fixed_bracket.stl"/>
      </geometry>
      <material name="fixed_bracket_18_material">
        <color rgba="0.647059 0.647059 0.647059 1"/>
      </material>
    </visual>
    <collision>
      <origin xyz="-0.0575 0 -0.0305" rpy="1.5708 1.5708 0"/>
      <geometry>
        <mesh filename="package://meshes\fixed_bracket.stl"/>
      </geometry>
    </collision>
    <!-- Part servo_wheel_36 -->
    <visual>
      <origin xyz="-8.32667e-17 -5.55112e-17 -0.0585" rpy="3.14159 3.39489e-15 -2.87409e-16"/>
      <geometry>
        <mesh filename="package://meshes\servo_wheel.stl"/>
      </geometry>
      <material name="servo_wheel_36_material">
        <color rgba="0.647059 0.647059 0.647059 1"/>
      </material>
    </visual>
    <collision>
      <origin xyz="-8.32667e-17 -5.55112e-17 -0.0585" rpy="3.14159 3.39489e-15 -2.87409e-16"/>
      <geometry>
        <mesh filename="package://meshes\servo_wheel.stl"/>
      </geometry>
    </collision>
  </link>
  <!-- Joint from ties_6 to foot_6 -->
  <joint name="foot_6" type="revolute">
    <origin xyz="0.0800734 0.117875 -0.000116718" rpy="8.44593e-15 -9.81866e-15 2.10621"/>
    <parent link="ties_6"/>
    <child link="foot_6"/>
    <axis xyz="0 0 1"/>
    <limit effort="10" velocity="10" lower="-0.0849172" upper="4.10387"/>
  </joint>
  <!-- Joint from hip_6 to ties_6 -->
  <joint name="ties_6" type="revolute">
    <origin xyz="-0.0925 0.0311167 -0.0305" rpy="1.5708 -4.16334e-17 -3.14159"/>
    <parent link="hip_6"/>
    <child link="ties_6"/>
    <axis xyz="0 0 1"/>
    <limit effort="10" velocity="10" lower="-2.71942" upper="0.771236"/>
  </joint>
  <!-- Joint from body to hip_6 -->
  <joint name="hip_6" type="revolute">
    <origin xyz="-0.196952 -0.21013 -0.0133595" rpy="2.24932e-15 4.78472e-16 1.24985"/>
    <parent link="body"/>
    <child link="hip_6"/>
    <axis xyz="0 0 1"/>
    <limit effort="10" velocity="10" lower="-1.24985" upper="1.89174"/>
  </joint>
</robot>
